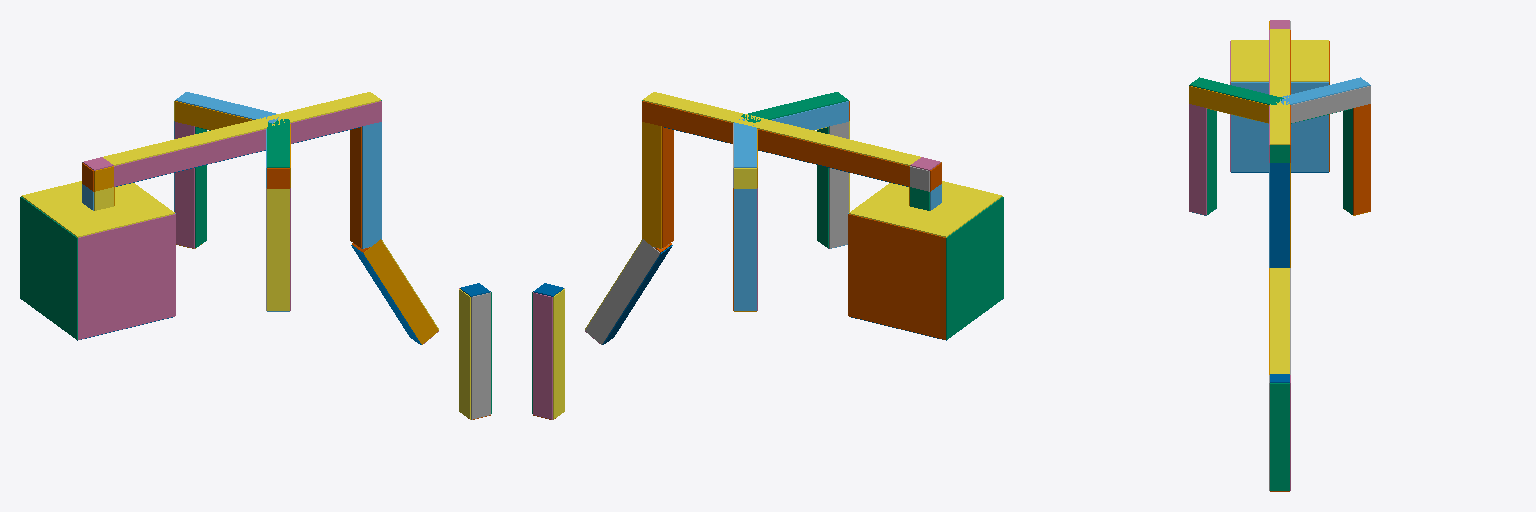
--- Render facts (derived) ---
Views: 3 orthographic renders of the robot side by side, from view 1: azimuth 30°, elevation 25°; view 2: azimuth 150°, elevation 25°; view 3: azimuth 270°, elevation 25°.
Model robot with 94 links and 93 joints (2 continuous, 91 fixed), rooted at body, posed every joint at zero.
Visible links, largest first — view 1: body_sensor_0_right, body_sensor_0_stop, arm_sensor_0_right, body_sensor_0_top, arm_sensor_0_top, hand_1_a_sensor_0_right, hand_3_c_sensor_0_right, hand_3_a_sensor_0_right, hand_3_b_sensor_0_right, hand_2_a_sensor_0_stop, hand_3_c_sensor_0_stop, hand_3_a_sensor_0_stop (+5 smaller); view 2: body_sensor_0_left, body_sensor_0_stop, arm_sensor_0_left, body_sensor_0_top, arm_sensor_0_top, hand_2_a_sensor_0_left, hand_3_c_sensor_0_left, hand_3_a_sensor_0_left, hand_3_b_sensor_0_left, hand_1_a_sensor_0_stop, hand_3_c_sensor_0_stop, hand_3_a_sensor_0_stop (+5 smaller); view 3: body_sensor_0_start, body_sensor_0_top, arm_sensor_0_top, hand_3_c_sensor_0_start, hand_3_b_sensor_0_start, hand_3_a_sensor_0_start, hand_1_a_sensor_0_start, hand_2_a_sensor_0_start, palm_1_sensor_0_start, palm_2_sensor_0_start, hand_1_a_sensor_0_left, hand_2_a_sensor_0_right (+2 smaller).
Link boxes in pixels (x1,y1,x2,y2): body_sensor_0_right: (78,214,175,339); body_sensor_0_stop: (20,197,77,339); arm_sensor_0_right: (114,101,381,186); body_sensor_0_top: (21,181,174,237); arm_sensor_0_top: (103,92,380,165); hand_1_a_sensor_0_right: (267,189,289,310); hand_3_c_sensor_0_right: (471,292,490,419); hand_3_a_sensor_0_right: (362,122,381,248); hand_3_b_sensor_0_right: (364,239,438,344); hand_2_a_sensor_0_stop: (175,122,194,248); hand_3_c_sensor_0_stop: (459,289,470,419); hand_3_a_sensor_0_stop: (350,127,361,247); body_sensor_0_left: (848,214,945,339); body_sensor_0_stop: (946,197,1003,339); arm_sensor_0_left: (642,101,909,186); body_sensor_0_top: (849,181,1002,237); arm_sensor_0_top: (643,92,920,165); hand_2_a_sensor_0_left: (734,189,756,310); hand_3_c_sensor_0_left: (533,292,552,419); hand_3_a_sensor_0_left: (642,122,661,248); hand_3_b_sensor_0_left: (585,239,659,344); hand_1_a_sensor_0_stop: (829,122,848,248); hand_3_c_sensor_0_stop: (553,289,564,419); hand_3_a_sensor_0_stop: (662,127,673,247); body_sensor_0_start: (1231,82,1328,171); body_sensor_0_top: (1231,40,1328,81); arm_sensor_0_top: (1270,29,1289,144); hand_3_c_sensor_0_start: (1270,383,1289,490); hand_3_b_sensor_0_start: (1270,268,1289,373); hand_3_a_sensor_0_start: (1270,163,1289,267); hand_1_a_sensor_0_start: (1189,104,1206,214); hand_2_a_sensor_0_start: (1353,104,1370,214); palm_1_sensor_0_start: (1189,86,1269,122); palm_2_sensor_0_start: (1291,86,1370,122); hand_1_a_sensor_0_left: (1207,109,1216,214); hand_2_a_sensor_0_right: (1343,109,1352,214).
Bounding box of the posed robot: 4.49 × 1.85 × 3.36 m (x, y, z).
Geometry: primitives only (box / cylinder / sphere), no mesh files.

URDF robot description (robot):
<?xml version="1.0"?>
    <robot name="robot">


    <!-- body -->
    <link name="body">
        <inertial>
            <origin xyz="0 0 0" rpy="0 0 0"/>
            <mass value="100"/>
            <inertia ixx=".1" ixy=".1" ixz=".1" iyy=".1" iyz=".1" izz=".1"/>
        </inertial>
        <visual>
            <origin xyz="0 0 0" rpy="0 0 0"/>
            <geometry>
                <box size="1 1 1"/>
            </geometry>
        </visual>
        <collision>
            <origin xyz="0 0 0" rpy="0 0 0"/>
            <geometry>
                <box size="1 1 1"/>
            </geometry>
        </collision>
    </link>


    <!-- body_sensor_0_start -->
    <link name="body_sensor_0_start">
        <inertial>
            <origin xyz="0 0 0" rpy="0 0 0"/>
            <mass value="0"/>
            <inertia ixx=".1" ixy=".1" ixz=".1" iyy=".1" iyz=".1" izz=".1"/>
        </inertial>
        <visual>
            <origin xyz="0 0 0" rpy="0 0 0"/>
            <geometry>
                <box size="0.02 1 1"/>
            </geometry>
        </visual>
        <collision>
            <origin xyz="0 0 0" rpy="0 0 0"/>
            <geometry>
                <box size="0.02 1 1"/>
            </geometry>
        </collision>
    </link>
    <!-- Joint: body, body_sensor_0_start -->
    <joint name="body_body_sensor_0_start_joint" type="fixed">
        <parent link="body"/>
        <child link="body_sensor_0_start"/>
        <origin xyz="0.5 0 0"
                rpy="0 0 0"/>
        <axis xyz="0 0 1"/>
        
    </joint>


    <!-- body_sensor_0_stop -->
    <link name="body_sensor_0_stop">
        <inertial>
            <origin xyz="0 0 0" rpy="0 0 0"/>
            <mass value="0"/>
            <inertia ixx=".1" ixy=".1" ixz=".1" iyy=".1" iyz=".1" izz=".1"/>
        </inertial>
        <visual>
            <origin xyz="0 0 0" rpy="0 0 0"/>
            <geometry>
                <box size="0.02 1 1"/>
            </geometry>
        </visual>
        <collision>
            <origin xyz="0 0 0" rpy="0 0 0"/>
            <geometry>
                <box size="0.02 1 1"/>
            </geometry>
        </collision>
    </link>
    <!-- Joint: body, body_sensor_0_stop -->
    <joint name="body_body_sensor_0_stop_joint" type="fixed">
        <parent link="body"/>
        <child link="body_sensor_0_stop"/>
        <origin xyz="-0.5 0 0"
                rpy="0 0 0"/>
        <axis xyz="0 0 1"/>
        
    </joint>


    <!-- body_sensor_0_top -->
    <link name="body_sensor_0_top">
        <inertial>
            <origin xyz="0 0 0" rpy="0 0 0"/>
            <mass value="0"/>
            <inertia ixx=".1" ixy=".1" ixz=".1" iyy=".1" iyz=".1" izz=".1"/>
        </inertial>
        <visual>
            <origin xyz="0 0 0" rpy="0 0 0"/>
            <geometry>
                <box size="1.0 1 0.02"/>
            </geometry>
        </visual>
        <collision>
            <origin xyz="0 0 0" rpy="0 0 0"/>
            <geometry>
                <box size="1.0 1 0.02"/>
            </geometry>
        </collision>
    </link>
    <!-- Joint: body, body_sensor_0_top -->
    <joint name="body_body_sensor_0_top_joint" type="fixed">
        <parent link="body"/>
        <child link="body_sensor_0_top"/>
        <origin xyz="0 0 0.5"
                rpy="0 0 0"/>
        <axis xyz="0 0 1"/>
        
    </joint>


    <!-- body_sensor_0_bottom -->
    <link name="body_sensor_0_bottom">
        <inertial>
            <origin xyz="0 0 0" rpy="0 0 0"/>
            <mass value="0"/>
            <inertia ixx=".1" ixy=".1" ixz=".1" iyy=".1" iyz=".1" izz=".1"/>
        </inertial>
        <visual>
            <origin xyz="0 0 0" rpy="0 0 0"/>
            <geometry>
                <box size="1.0 1 0.02"/>
            </geometry>
        </visual>
        <collision>
            <origin xyz="0 0 0" rpy="0 0 0"/>
            <geometry>
                <box size="1.0 1 0.02"/>
            </geometry>
        </collision>
    </link>
    <!-- Joint: body, body_sensor_0_bottom -->
    <joint name="body_body_sensor_0_bottom_joint" type="fixed">
        <parent link="body"/>
        <child link="body_sensor_0_bottom"/>
        <origin xyz="0 0 -0.5"
                rpy="0 0 0"/>
        <axis xyz="0 0 1"/>
        
    </joint>


    <!-- body_sensor_0_left -->
    <link name="body_sensor_0_left">
        <inertial>
            <origin xyz="0 0 0" rpy="0 0 0"/>
            <mass value="0"/>
            <inertia ixx=".1" ixy=".1" ixz=".1" iyy=".1" iyz=".1" izz=".1"/>
        </inertial>
        <visual>
            <origin xyz="0 0 0" rpy="0 0 0"/>
            <geometry>
                <box size="1.0 0.02 1"/>
            </geometry>
        </visual>
        <collision>
            <origin xyz="0 0 0" rpy="0 0 0"/>
            <geometry>
                <box size="1.0 0.02 1"/>
            </geometry>
        </collision>
    </link>
    <!-- Joint: body, body_sensor_0_left -->
    <joint name="body_body_sensor_0_left_joint" type="fixed">
        <parent link="body"/>
        <child link="body_sensor_0_left"/>
        <origin xyz="0 0.5 0"
                rpy="0 0 0"/>
        <axis xyz="0 0 1"/>
        
    </joint>


    <!-- body_sensor_0_right -->
    <link name="body_sensor_0_right">
        <inertial>
            <origin xyz="0 0 0" rpy="0 0 0"/>
            <mass value="0"/>
            <inertia ixx=".1" ixy=".1" ixz=".1" iyy=".1" iyz=".1" izz=".1"/>
        </inertial>
        <visual>
            <origin xyz="0 0 0" rpy="0 0 0"/>
            <geometry>
                <box size="1.0 0.02 1"/>
            </geometry>
        </visual>
        <collision>
            <origin xyz="0 0 0" rpy="0 0 0"/>
            <geometry>
                <box size="1.0 0.02 1"/>
            </geometry>
        </collision>
    </link>
    <!-- Joint: body, body_sensor_0_right -->
    <joint name="body_body_sensor_0_right_joint" type="fixed">
        <parent link="body"/>
        <child link="body_sensor_0_right"/>
        <origin xyz="0 -0.5 0"
                rpy="0 0 0"/>
        <axis xyz="0 0 1"/>
        
    </joint>


    <!-- joint_1 -->
    <link name="joint_1">
        <inertial>
            <origin xyz="0 0 0" rpy="0 0 0"/>
            <mass value="2"/>
            <inertia ixx=".1" ixy=".1" ixz=".1" iyy=".1" iyz=".1" izz=".1"/>
        </inertial>
        <visual>
            <origin xyz="0 0 0" rpy="0 0 0"/>
            <geometry>
                <box size="0.2 0.2 0.2"/>
            </geometry>
        </visual>
        <collision>
            <origin xyz="0 0 0" rpy="0 0 0"/>
            <geometry>
                <box size="0.2 0.2 0.2"/>
            </geometry>
        </collision>
    </link>


    <!-- joint_1_sensor_0_start -->
    <link name="joint_1_sensor_0_start">
        <inertial>
            <origin xyz="0 0 0" rpy="0 0 0"/>
            <mass value="0"/>
            <inertia ixx=".1" ixy=".1" ixz=".1" iyy=".1" iyz=".1" izz=".1"/>
        </inertial>
        <visual>
            <origin xyz="0 0 0" rpy="0 0 0"/>
            <geometry>
                <box size="0.02 0.2 0.2"/>
            </geometry>
        </visual>
        <collision>
            <origin xyz="0 0 0" rpy="0 0 0"/>
            <geometry>
                <box size="0.02 0.2 0.2"/>
            </geometry>
        </collision>
    </link>
    <!-- Joint: joint_1, joint_1_sensor_0_start -->
    <joint name="joint_1_joint_1_sensor_0_start_joint" type="fixed">
        <parent link="joint_1"/>
        <child link="joint_1_sensor_0_start"/>
        <origin xyz="0.1 0 0"
                rpy="0 0 0"/>
        <axis xyz="0 0 1"/>
        
    </joint>


    <!-- joint_1_sensor_0_stop -->
    <link name="joint_1_sensor_0_stop">
        <inertial>
            <origin xyz="0 0 0" rpy="0 0 0"/>
            <mass value="0"/>
            <inertia ixx=".1" ixy=".1" ixz=".1" iyy=".1" iyz=".1" izz=".1"/>
        </inertial>
        <visual>
            <origin xyz="0 0 0" rpy="0 0 0"/>
            <geometry>
                <box size="0.02 0.2 0.2"/>
            </geometry>
        </visual>
        <collision>
            <origin xyz="0 0 0" rpy="0 0 0"/>
            <geometry>
                <box size="0.02 0.2 0.2"/>
            </geometry>
        </collision>
    </link>
    <!-- Joint: joint_1, joint_1_sensor_0_stop -->
    <joint name="joint_1_joint_1_sensor_0_stop_joint" type="fixed">
        <parent link="joint_1"/>
        <child link="joint_1_sensor_0_stop"/>
        <origin xyz="-0.1 0 0"
                rpy="0 0 0"/>
        <axis xyz="0 0 1"/>
        
    </joint>


    <!-- joint_1_sensor_0_left -->
    <link name="joint_1_sensor_0_left">
        <inertial>
            <origin xyz="0 0 0" rpy="0 0 0"/>
            <mass value="0"/>
            <inertia ixx=".1" ixy=".1" ixz=".1" iyy=".1" iyz=".1" izz=".1"/>
        </inertial>
        <visual>
            <origin xyz="0 0 0" rpy="0 0 0"/>
            <geometry>
                <box size="0.2 0.02 0.2"/>
            </geometry>
        </visual>
        <collision>
            <origin xyz="0 0 0" rpy="0 0 0"/>
            <geometry>
                <box size="0.2 0.02 0.2"/>
            </geometry>
        </collision>
    </link>
    <!-- Joint: joint_1, joint_1_sensor_0_left -->
    <joint name="joint_1_joint_1_sensor_0_left_joint" type="fixed">
        <parent link="joint_1"/>
        <child link="joint_1_sensor_0_left"/>
        <origin xyz="0 0.1 0"
                rpy="0 0 0"/>
        <axis xyz="0 0 1"/>
        
    </joint>


    <!-- joint_1_sensor_0_right -->
    <link name="joint_1_sensor_0_right">
        <inertial>
            <origin xyz="0 0 0" rpy="0 0 0"/>
            <mass value="0"/>
            <inertia ixx=".1" ixy=".1" ixz=".1" iyy=".1" iyz=".1" izz=".1"/>
        </inertial>
        <visual>
            <origin xyz="0 0 0" rpy="0 0 0"/>
            <geometry>
                <box size="0.2 0.02 0.2"/>
            </geometry>
        </visual>
        <collision>
            <origin xyz="0 0 0" rpy="0 0 0"/>
            <geometry>
                <box size="0.2 0.02 0.2"/>
            </geometry>
        </collision>
    </link>
    <!-- Joint: joint_1, joint_1_sensor_0_right -->
    <joint name="joint_1_joint_1_sensor_0_right_joint" type="fixed">
        <parent link="joint_1"/>
        <child link="joint_1_sensor_0_right"/>
        <origin xyz="0 -0.1 0"
                rpy="0 0 0"/>
        <axis xyz="0 0 1"/>
        
    </joint>
    <!-- Joint: body, joint_1 -->
    <joint name="body_joint_1_joint" type="continuous">
        <parent link="body"/>
        <child link="joint_1"/>
        <origin xyz="0 0 0.6"
                rpy="0 0 0"/>
        <axis xyz="0 0 1"/>
        <limit lower="0" upper="0" effort="0" velocity="0"/>
    </joint>


    <!-- joint_2 -->
    <link name="joint_2">
        <inertial>
            <origin xyz="0 0 0" rpy="0 0 0"/>
            <mass value="2"/>
            <inertia ixx=".1" ixy=".1" ixz=".1" iyy=".1" iyz=".1" izz=".1"/>
        </inertial>
        <visual>
            <origin xyz="0 0 0" rpy="0 0 0"/>
            <geometry>
                <box size="0.2 0.2 0.2"/>
            </geometry>
        </visual>
        <collision>
            <origin xyz="0 0 0" rpy="0 0 0"/>
            <geometry>
                <box size="0.2 0.2 0.2"/>
            </geometry>
        </collision>
    </link>


    <!-- joint_2_sensor_0_stop -->
    <link name="joint_2_sensor_0_stop">
        <inertial>
            <origin xyz="0 0 0" rpy="0 0 0"/>
            <mass value="0"/>
            <inertia ixx=".1" ixy=".1" ixz=".1" iyy=".1" iyz=".1" izz=".1"/>
        </inertial>
        <visual>
            <origin xyz="0 0 0" rpy="0 0 0"/>
            <geometry>
                <box size="0.02 0.2 0.2"/>
            </geometry>
        </visual>
        <collision>
            <origin xyz="0 0 0" rpy="0 0 0"/>
            <geometry>
                <box size="0.02 0.2 0.2"/>
            </geometry>
        </collision>
    </link>
    <!-- Joint: joint_2, joint_2_sensor_0_stop -->
    <joint name="joint_2_joint_2_sensor_0_stop_joint" type="fixed">
        <parent link="joint_2"/>
        <child link="joint_2_sensor_0_stop"/>
        <origin xyz="-0.1 0 0"
                rpy="0 0 0"/>
        <axis xyz="0 1 0"/>
        
    </joint>


    <!-- joint_2_sensor_0_top -->
    <link name="joint_2_sensor_0_top">
        <inertial>
            <origin xyz="0 0 0" rpy="0 0 0"/>
            <mass value="0"/>
            <inertia ixx=".1" ixy=".1" ixz=".1" iyy=".1" iyz=".1" izz=".1"/>
        </inertial>
        <visual>
            <origin xyz="0 0 0" rpy="0 0 0"/>
            <geometry>
                <box size="0.2 0.2 0.02"/>
            </geometry>
        </visual>
        <collision>
            <origin xyz="0 0 0" rpy="0 0 0"/>
            <geometry>
                <box size="0.2 0.2 0.02"/>
            </geometry>
        </collision>
    </link>
    <!-- Joint: joint_2, joint_2_sensor_0_top -->
    <joint name="joint_2_joint_2_sensor_0_top_joint" type="fixed">
        <parent link="joint_2"/>
        <child link="joint_2_sensor_0_top"/>
        <origin xyz="0 0 0.1"
                rpy="0 0 0"/>
        <axis xyz="0 1 0"/>
        
    </joint>


    <!-- joint_2_sensor_0_left -->
    <link name="joint_2_sensor_0_left">
        <inertial>
            <origin xyz="0 0 0" rpy="0 0 0"/>
            <mass value="0"/>
            <inertia ixx=".1" ixy=".1" ixz=".1" iyy=".1" iyz=".1" izz=".1"/>
        </inertial>
        <visual>
            <origin xyz="0 0 0" rpy="0 0 0"/>
            <geometry>
                <box size="0.2 0.02 0.2"/>
            </geometry>
        </visual>
        <collision>
            <origin xyz="0 0 0" rpy="0 0 0"/>
            <geometry>
                <box size="0.2 0.02 0.2"/>
            </geometry>
        </collision>
    </link>
    <!-- Joint: joint_2, joint_2_sensor_0_left -->
    <joint name="joint_2_joint_2_sensor_0_left_joint" type="fixed">
        <parent link="joint_2"/>
        <child link="joint_2_sensor_0_left"/>
        <origin xyz="0 0.1 0"
                rpy="0 0 0"/>
        <axis xyz="0 1 0"/>
        
    </joint>


    <!-- joint_2_sensor_0_right -->
    <link name="joint_2_sensor_0_right">
        <inertial>
            <origin xyz="0 0 0" rpy="0 0 0"/>
            <mass value="0"/>
            <inertia ixx=".1" ixy=".1" ixz=".1" iyy=".1" iyz=".1" izz=".1"/>
        </inertial>
        <visual>
            <origin xyz="0 0 0" rpy="0 0 0"/>
            <geometry>
                <box size="0.2 0.02 0.2"/>
            </geometry>
        </visual>
        <collision>
            <origin xyz="0 0 0" rpy="0 0 0"/>
            <geometry>
                <box size="0.2 0.02 0.2"/>
            </geometry>
        </collision>
    </link>
    <!-- Joint: joint_2, joint_2_sensor_0_right -->
    <joint name="joint_2_joint_2_sensor_0_right_joint" type="fixed">
        <parent link="joint_2"/>
        <child link="joint_2_sensor_0_right"/>
        <origin xyz="0 -0.1 0"
                rpy="0 0 0"/>
        <axis xyz="0 1 0"/>
        
    </joint>
    <!-- Joint: joint_1, joint_2 -->
    <joint name="joint_1_joint_2_joint" type="continuous">
        <parent link="joint_1"/>
        <child link="joint_2"/>
        <origin xyz="0 0 0.2"
                rpy="0 0 0"/>
        <axis xyz="0 1 0"/>
        <limit lower="0" upper="0" effort="0" velocity="0"/>
    </joint>


    <!-- arm -->
    <link name="arm">
        <inertial>
            <origin xyz="0 0 0" rpy="0 0 0"/>
            <mass value="2"/>
            <inertia ixx=".1" ixy=".1" ixz=".1" iyy=".1" iyz=".1" izz=".1"/>
        </inertial>
        <visual>
            <origin xyz="0 0 0" rpy="0 0 0"/>
            <geometry>
                <box size="2.75 0.2 0.2"/>
            </geometry>
        </visual>
        <collision>
            <origin xyz="0 0 0" rpy="0 0 0"/>
            <geometry>
                <box size="2.75 0.2 0.2"/>
            </geometry>
        </collision>
    </link>


    <!-- arm_sensor_0_start -->
    <link name="arm_sensor_0_start">
        <inertial>
            <origin xyz="0 0 0" rpy="0 0 0"/>
            <mass value="0"/>
            <inertia ixx=".1" ixy=".1" ixz=".1" iyy=".1" iyz=".1" izz=".1"/>
        </inertial>
        <visual>
            <origin xyz="0 0 0" rpy="0 0 0"/>
            <geometry>
                <box size="0.02 0.2 0.2"/>
            </geometry>
        </visual>
        <collision>
            <origin xyz="0 0 0" rpy="0 0 0"/>
            <geometry>
                <box size="0.02 0.2 0.2"/>
            </geometry>
        </collision>
    </link>
    <!-- Joint: arm, arm_sensor_0_start -->
    <joint name="arm_arm_sensor_0_start_joint" type="fixed">
        <parent link="arm"/>
        <child link="arm_sensor_0_start"/>
        <origin xyz="1.375 0 0"
                rpy="0 0 0"/>
        <axis xyz="0 1 0"/>
        
    </joint>


    <!-- arm_sensor_0_top -->
    <link name="arm_sensor_0_top">
        <inertial>
            <origin xyz="0 0 0" rpy="0 0 0"/>
            <mass value="0"/>
            <inertia ixx=".1" ixy=".1" ixz=".1" iyy=".1" iyz=".1" izz=".1"/>
        </inertial>
        <visual>
            <origin xyz="0 0 0" rpy="0 0 0"/>
            <geometry>
                <box size="2.75 0.2 0.02"/>
            </geometry>
        </visual>
        <collision>
            <origin xyz="0 0 0" rpy="0 0 0"/>
            <geometry>
                <box size="2.75 0.2 0.02"/>
            </geometry>
        </collision>
    </link>
    <!-- Joint: arm, arm_sensor_0_top -->
    <joint name="arm_arm_sensor_0_top_joint" type="fixed">
        <parent link="arm"/>
        <child link="arm_sensor_0_top"/>
        <origin xyz="0 0 0.1"
                rpy="0 0 0"/>
        <axis xyz="0 1 0"/>
        
    </joint>


    <!-- arm_sensor_0_bottom -->
    <link name="arm_sensor_0_bottom">
        <inertial>
            <origin xyz="0 0 0" rpy="0 0 0"/>
            <mass value="0"/>
            <inertia ixx=".1" ixy=".1" ixz=".1" iyy=".1" iyz=".1" izz=".1"/>
        </inertial>
        <visual>
            <origin xyz="0 0 0" rpy="0 0 0"/>
            <geometry>
                <box size="2.75 0.2 0.02"/>
            </geometry>
        </visual>
        <collision>
            <origin xyz="0 0 0" rpy="0 0 0"/>
            <geometry>
                <box size="2.75 0.2 0.02"/>
            </geometry>
        </collision>
    </link>
    <!-- Joint: arm, arm_sensor_0_bottom -->
    <joint name="arm_arm_sensor_0_bottom_joint" type="fixed">
        <parent link="arm"/>
        <child link="arm_sensor_0_bottom"/>
        <origin xyz="0 0 -0.1"
                rpy="0 0 0"/>
        <axis xyz="0 1 0"/>
        
    </joint>


    <!-- arm_sensor_0_left -->
    <link name="arm_sensor_0_left">
        <inertial>
            <origin xyz="0 0 0" rpy="0 0 0"/>
            <mass value="0"/>
            <inertia ixx=".1" ixy=".1" ixz=".1" iyy=".1" iyz=".1" izz=".1"/>
        </inertial>
        <visual>
            <origin xyz="0 0 0" rpy="0 0 0"/>
            <geometry>
                <box size="2.75 0.02 0.2"/>
            </geometry>
        </visual>
        <collision>
            <origin xyz="0 0 0" rpy="0 0 0"/>
            <geometry>
                <box size="2.75 0.02 0.2"/>
            </geometry>
        </collision>
    </link>
    <!-- Joint: arm, arm_sensor_0_left -->
    <joint name="arm_arm_sensor_0_left_joint" type="fixed">
        <parent link="arm"/>
        <child link="arm_sensor_0_left"/>
        <origin xyz="0 0.1 0"
                rpy="0 0 0"/>
        <axis xyz="0 1 0"/>
        
    </joint>


    <!-- arm_sensor_0_right -->
    <link name="arm_sensor_0_right">
        <inertial>
            <origin xyz="0 0 0" rpy="0 0 0"/>
            <mass value="0"/>
            <inertia ixx=".1" ixy=".1" ixz=".1" iyy=".1" iyz=".1" izz=".1"/>
        </inertial>
        <visual>
            <origin xyz="0 0 0" rpy="0 0 0"/>
            <geometry>
                <box size="2.75 0.02 0.2"/>
            </geometry>
        </visual>
        <collision>
            <origin xyz="0 0 0" rpy="0 0 0"/>
            <geometry>
                <box size="2.75 0.02 0.2"/>
            </geometry>
        </collision>
    </link>
    <!-- Joint: arm, arm_sensor_0_right -->
    <joint name="arm_arm_sensor_0_right_joint" type="fixed">
        <parent link="arm"/>
        <child link="arm_sensor_0_right"/>
        <origin xyz="0 -0.1 0"
                rpy="0 0 0"/>
        <axis xyz="0 1 0"/>
        
    </joint>
    <!-- Joint: joint_2, arm -->
    <joint name="joint_2_arm_joint" type="fixed">
        <parent link="joint_2"/>
        <child link="arm"/>
        <origin xyz="1.475 0 0"
                rpy="0 0 0"/>
        <axis xyz="0 1 0"/>
        
    </joint>


    <!-- palm_1 -->
    <link name="palm_1">
        <inertial>
            <origin xyz="0 0 0" rpy="0 0 0"/>
            <mass value="2"/>
            <inertia ixx=".1" ixy=".1" ixz=".1" iyy=".1" iyz=".1" izz=".1"/>
        </inertial>
        <visual>
            <origin xyz="0 0 0" rpy="0 0 0"/>
            <geometry>
                <box size="0.2 1 0.2"/>
            </geometry>
        </visual>
        <collision>
            <origin xyz="0 0 0" rpy="0 0 0"/>
            <geometry>
                <box size="0.2 1 0.2"/>
            </geometry>
        </collision>
    </link>


    <!-- palm_1_sensor_0_start -->
    <link name="palm_1_sensor_0_start">
        <inertial>
            <origin xyz="0 0 0" rpy="0 0 0"/>
            <mass value="0"/>
            <inertia ixx=".1" ixy=".1" ixz=".1" iyy=".1" iyz=".1" izz=".1"/>
        </inertial>
        <visual>
            <origin xyz="0 0 0" rpy="0 0 0"/>
            <geometry>
                <box size="0.02 1 0.2"/>
            </geometry>
        </visual>
        <collision>
            <origin xyz="0 0 0" rpy="0 0 0"/>
            <geometry>
                <box size="0.02 1 0.2"/>
            </geometry>
        </collision>
    </link>
    <!-- Joint: palm_1, palm_1_sensor_0_start -->
    <joint name="palm_1_palm_1_sensor_0_start_joint" type="fixed">
        <parent link="palm_1"/>
        <child link="palm_1_sensor_0_start"/>
        <origin xyz="0.1 0 0"
                rpy="0 0 0"/>
        <axis xyz="0 1 0"/>
        
    </joint>


    <!-- palm_1_sensor_0_stop -->
    <link name="palm_1_sensor_0_stop">
        <inertial>
            <origin xyz="0 0 0" rpy="0 0 0"/>
            <mass value="0"/>
            <inertia ixx=".1" ixy=".1" ixz=".1" iyy=".1" iyz=".1" izz=".1"/>
        </inertial>
        <visual>
            <origin xyz="0 0 0" rpy="0 0 0"/>
            <geometry>
                <box size="0.02 1 0.2"/>
            </geometry>
        </visual>
        <collision>
            <origin xyz="0 0 0" rpy="0 0 0"/>
            <geometry>
                <box size="0.02 1 0.2"/>
            </geometry>
        </collision>
    </link>
    <!-- Joint: palm_1, palm_1_sensor_0_stop -->
    <joint name="palm_1_palm_1_sensor_0_stop_joint" type="fixed">
        <parent link="palm_1"/>
        <child link="palm_1_sensor_0_stop"/>
        <origin xyz="-0.1 0 0"
                rpy="0 0 0"/>
        <axis xyz="0 1 0"/>
        
    </joint>


    <!-- palm_1_sensor_0_top -->
    <link name="palm_1_sensor_0_top">
        <inertial>
            <origin xyz="0 0 0" rpy="0 0 0"/>
            <mass value="0"/>
            <inertia ixx=".1" ixy=".1" ixz=".1" iyy=".1" iyz=".1" izz=".1"/>
        </inertial>
        <visual>
            <origin xyz="0 0 0" rpy="0 0 0"/>
            <geometry>
                <box size="0.2 1 0.02"/>
            </geometry>
        </visual>
        <collision>
            <origin xyz="0 0 0" rpy="0 0 0"/>
            <geometry>
                <box size="0.2 1 0.02"/>
            </geometry>
        </collision>
    </link>
    <!-- Joint: palm_1, palm_1_sensor_0_top -->
    <joint name="palm_1_palm_1_sensor_0_top_joint" type="fixed">
        <parent link="palm_1"/>
        <child link="palm_1_sensor_0_top"/>
        <origin xyz="0 0 0.1"
                rpy="0 0 0"/>
        <axis xyz="0 1 0"/>
        
    </joint>


    <!-- palm_1_sensor_0_bottom -->
    <link name="palm_1_sensor_0_bottom">
        <inertial>
            <origin xyz="0 0 0" rpy="0 0 0"/>
            <mass value="0"/>
            <inertia ixx=".1" ixy=".1" ixz=".1" iyy=".1" iyz=".1" izz=".1"/>
        </inertial>
        <visual>
            <origin xyz="0 0 0" rpy="0 0 0"/>
            <geometry>
                <box size="0.2 1 0.02"/>
            </geometry>
        </visual>
        <collision>
            <origin xyz="0 0 0" rpy="0 0 0"/>
            <geometry>
                <box size="0.2 1 0.02"/>
            </geometry>
        </collision>
    </link>
    <!-- Joint: palm_1, palm_1_sensor_0_bottom -->
    <joint name="palm_1_palm_1_sensor_0_bottom_joint" type="fixed">
        <parent link="palm_1"/>
        <child link="palm_1_sensor_0_bottom"/>
        <origin xyz="0 0 -0.1"
                rpy="0 0 0"/>
        <axis xyz="0 1 0"/>
        
    </joint>


    <!-- palm_1_sensor_0_left -->
    <link name="palm_1_sensor_0_left">
        <inertial>
            <origin xyz="0 0 0" rpy="0 0 0"/>
            <mass value="0"/>
            <inertia ixx=".1" ixy=".1" ixz=".1" iyy=".1" iyz=".1" izz=".1"/>
        </inertial>
        <visual>
            <origin xyz="0 0 0" rpy="0 0 0"/>
            <geometry>
                <box size="0.2 0.02 0.2"/>
            </geometry>
        </visual>
        <collision>
            <origin xyz="0 0 0" rpy="0 0 0"/>
            <geometry>
                <box size="0.2 0.02 0.2"/>
            </geometry>
        </collision>
    </link>
    <!-- Joint: palm_1, palm_1_sensor_0_left -->
    <joint name="palm_1_palm_1_sensor_0_left_joint" type="fixed">
        <parent link="palm_1"/>
        <child link="palm_1_sensor_0_left"/>
        <origin xyz="0 0.5 0"
                rpy="0 0 0"/>
        <axis xyz="0 1 0"/>
        
    </joint>


    <!-- palm_1_sensor_0_right -->
    <link name="palm_1_sensor_0_right">
        <inertial>
            <origin xyz="0 0 0" rpy="0 0 0"/>
            <mass value="0"/>
            <inertia ixx=".1" ixy=".1" ixz=".1" iyy=".1" iyz=".1" izz=".1"/>
        </inertial>
        <visual>
            <origin xyz="0 0 0" rpy="0 0 0"/>
            <geometry>
                <box size="0.2 0.02 0.2"/>
            </geometry>
        </visual>
        <collision>
            <origin xyz="0 0 0" rpy="0 0 0"/>
            <geometry>
                <box size="0.2 0.02 0.2"/>
            </geometry>
        </collision>
    </link>
    <!-- Joint: palm_1, palm_1_sensor_0_right -->
    <joint name="palm_1_palm_1_sensor_0_right_joint" type="fixed">
        <parent link="palm_1"/>
        <child link="palm_1_sensor_0_right"/>
        <origin xyz="0 -0.5 0"
                rpy="0 0 0"/>
        <axis xyz="0 1 0"/>
        
    </joint>
    <!-- Joint: arm, palm_1 -->
    <joint name="arm_palm_1_joint" type="fixed">
        <parent link="arm"/>
        <child link="palm_1"/>
        <origin xyz="0.125 -0.4330127018922193 0"
                rpy="0 0 -0.5235987755982988"/>
        <axis xyz="0 1 0"/>
        
    </joint>


    <!-- palm_2 -->
    <link name="palm_2">
        <inertial>
            <origin xyz="0 0 0" rpy="0 0 0"/>
            <mass value="2"/>
            <inertia ixx=".1" ixy=".1" ixz=".1" iyy=".1" iyz=".1" izz=".1"/>
        </inertial>
        <visual>
            <origin xyz="0 0 0" rpy="0 0 0"/>
            <geometry>
                <box size="0.2 1 0.2"/>
            </geometry>
        </visual>
        <collision>
            <origin xyz="0 0 0" rpy="0 0 0"/>
            <geometry>
                <box size="0.2 1 0.2"/>
            </geometry>
        </collision>
    </link>


    <!-- palm_2_sensor_0_start -->
    <link name="palm_2_sensor_0_start">
        <inertial>
            <origin xyz="0 0 0" rpy="0 0 0"/>
            <mass value="0"/>
            <inertia ixx=".1" ixy=".1" ixz=".1" iyy=".1" iyz=".1" izz=".1"/>
        </inertial>
        <visual>
            <origin xyz="0 0 0" rpy="0 0 0"/>
            <geometry>
                <box size="0.02 1 0.2"/>
            </geometry>
        </visual>
        <collision>
            <origin xyz="0 0 0" rpy="0 0 0"/>
            <geometry>
                <box size="0.02 1 0.2"/>
            </geometry>
        </collision>
    </link>
    <!-- Joint: palm_2, palm_2_sensor_0_start -->
    <joint name="palm_2_palm_2_sensor_0_start_joint" type="fixed">
        <parent link="palm_2"/>
        <child link="palm_2_sensor_0_start"/>
        <origin xyz="0.1 0 0"
                rpy="0 0 0"/>
        <axis xyz="0 1 0"/>
        
    </joint>


    <!-- palm_2_sensor_0_stop -->
    <link name="palm_2_sensor_0_stop">
        <inertial>
            <origin xyz="0 0 0" rpy="0 0 0"/>
            <mass value="0"/>
            <inertia ixx=".1" ixy=".1" ixz=".1" iyy=".1" iyz=".1" izz=".1"/>
        </inertial>
        <visual>
            <origin xyz="0 0 0" rpy="0 0 0"/>
            <geometry>
                <box size="0.02 1 0.2"/>
            </geometry>
        </visual>
        <collision>
            <origin xyz="0 0 0" rpy="0 0 0"/>
            <geometry>
                <box size="0.02 1 0.2"/>
            </geometry>
        </collision>
    </link>
    <!-- Joint: palm_2, palm_2_sensor_0_stop -->
    <joint name="palm_2_palm_2_sensor_0_stop_joint" type="fixed">
        <parent link="palm_2"/>
        <child link="palm_2_sensor_0_stop"/>
        <origin xyz="-0.1 0 0"
                rpy="0 0 0"/>
        <axis xyz="0 1 0"/>
        
    </joint>


    <!-- palm_2_sensor_0_top -->
    <link name="palm_2_sensor_0_top">
        <inertial>
            <origin xyz="0 0 0" rpy="0 0 0"/>
            <mass value="0"/>
            <inertia ixx=".1" ixy=".1" ixz=".1" iyy=".1" iyz=".1" izz=".1"/>
        </inertial>
        <visual>
            <origin xyz="0 0 0" rpy="0 0 0"/>
            <geometry>
                <box size="0.2 1 0.02"/>
            </geometry>
        </visual>
        <collision>
            <origin xyz="0 0 0" rpy="0 0 0"/>
            <geometry>
                <box size="0.2 1 0.02"/>
            </geometry>
        </collision>
    </link>
    <!-- Joint: palm_2, palm_2_sensor_0_top -->
    <joint name="palm_2_palm_2_sensor_0_top_joint" type="fixed">
        <parent link="palm_2"/>
        <child link="palm_2_sensor_0_top"/>
        <origin xyz="0 0 0.1"
                rpy="0 0 0"/>
        <axis xyz="0 1 0"/>
        
    </joint>


    <!-- palm_2_sensor_0_bottom -->
    <link name="palm_2_sensor_0_bottom">
        <inertial>
            <origin xyz="0 0 0" rpy="0 0 0"/>
            <mass value="0"/>
            <inertia ixx=".1" ixy=".1" ixz=".1" iyy=".1" iyz=".1" izz=".1"/>
        </inertial>
        <visual>
            <origin xyz="0 0 0" rpy="0 0 0"/>
            <geometry>
                <box size="0.2 1 0.02"/>
            </geometry>
        </visual>
        <collision>
            <origin xyz="0 0 0" rpy="0 0 0"/>
            <geometry>
                <box size="0.2 1 0.02"/>
            </geometry>
        </collision>
    </link>
    <!-- Joint: palm_2, palm_2_sensor_0_bottom -->
    <joint name="palm_2_palm_2_sensor_0_bottom_joint" type="fixed">
        <parent link="palm_2"/>
        <child link="palm_2_sensor_0_bottom"/>
        <origin xyz="0 0 -0.1"
                rpy="0 0 0"/>
        <axis xyz="0 1 0"/>
        
    </joint>


    <!-- palm_2_sensor_0_left -->
    <link name="palm_2_sensor_0_left">
        <inertial>
            <origin xyz="0 0 0" rpy="0 0 0"/>
            <mass value="0"/>
            <inertia ixx=".1" ixy=".1" ixz=".1" iyy=".1" iyz=".1" izz=".1"/>
        </inertial>
        <visual>
            <origin xyz="0 0 0" rpy="0 0 0"/>
            <geometry>
                <box size="0.2 0.02 0.2"/>
            </geometry>
        </visual>
        <collision>
            <origin xyz="0 0 0" rpy="0 0 0"/>
            <geometry>
                <box size="0.2 0.02 0.2"/>
            </geometry>
        </collision>
    </link>
    <!-- Joint: palm_2, palm_2_sensor_0_left -->
    <joint name="palm_2_palm_2_sensor_0_left_joint" type="fixed">
        <parent link="palm_2"/>
        <child link="palm_2_sensor_0_left"/>
        <origin xyz="0 0.5 0"
                rpy="0 0 0"/>
        <axis xyz="0 1 0"/>
        
    </joint>


    <!-- palm_2_sensor_0_right -->
    <link name="palm_2_sensor_0_right">
        <inertial>
            <origin xyz="0 0 0" rpy="0 0 0"/>
            <mass value="0"/>
            <inertia ixx=".1" ixy=".1" ixz=".1" iyy=".1" iyz=".1" izz=".1"/>
        </inertial>
        <visual>
            <origin xyz="0 0 0" rpy="0 0 0"/>
            <geometry>
                <box size="0.2 0.02 0.2"/>
            </geometry>
        </visual>
        <collision>
            <origin xyz="0 0 0" rpy="0 0 0"/>
            <geometry>
                <box size="0.2 0.02 0.2"/>
            </geometry>
        </collision>
    </link>
    <!-- Joint: palm_2, palm_2_sensor_0_right -->
    <joint name="palm_2_palm_2_sensor_0_right_joint" type="fixed">
        <parent link="palm_2"/>
        <child link="palm_2_sensor_0_right"/>
        <origin xyz="0 -0.5 0"
                rpy="0 0 0"/>
        <axis xyz="0 1 0"/>
        
    </joint>
    <!-- Joint: arm, palm_2 -->
    <joint name="arm_palm_2_joint" type="fixed">
        <parent link="arm"/>
        <child link="palm_2"/>
        <origin xyz="0.125 0.4330127018922193 0"
                rpy="0 0 0.5235987755982988"/>
        <axis xyz="0 1 0"/>
        
    </joint>


    <!-- hand_1_a -->
    <link name="hand_1_a">
        <inertial>
            <origin xyz="0 0 0" rpy="0 0 0"/>
            <mass value="2"/>
            <inertia ixx=".1" ixy=".1" ixz=".1" iyy=".1" iyz=".1" izz=".1"/>
        </inertial>
        <visual>
            <origin xyz="0 0 0" rpy="0 0 0"/>
            <geometry>
                <box size="0.2 0.2 1.2"/>
            </geometry>
        </visual>
        <collision>
            <origin xyz="0 0 0" rpy="0 0 0"/>
            <geometry>
                <box size="0.2 0.2 1.2"/>
            </geometry>
        </collision>
    </link>


    <!-- hand_1_a_sensor_0_start -->
    <link name="hand_1_a_sensor_0_start">
        <inertial>
            <origin xyz="0 0 0" rpy="0 0 0"/>
            <mass value="0"/>
            <inertia ixx=".1" ixy=".1" ixz=".1" iyy=".1" iyz=".1" izz=".1"/>
        </inertial>
        <visual>
            <origin xyz="0 0 0" rpy="0 0 0"/>
            <geometry>
                <box size="0.02 0.2 1.2"/>
            </geometry>
        </visual>
        <collision>
            <origin xyz="0 0 0" rpy="0 0 0"/>
            <geometry>
                <box size="0.02 0.2 1.2"/>
            </geometry>
        </collision>
    </link>
    <!-- Joint: hand_1_a, hand_1_a_sensor_0_start -->
    <joint name="hand_1_a_hand_1_a_sensor_0_start_joint" type="fixed">
        <parent link="hand_1_a"/>
        <child link="hand_1_a_sensor_0_start"/>
        <origin xyz="0.1 0 0"
                rpy="0 0 0"/>
        <axis xyz="0 1 0"/>
        
    </joint>


    <!-- hand_1_a_sensor_0_stop -->
    <link name="hand_1_a_sensor_0_stop">
        <inertial>
            <origin xyz="0 0 0" rpy="0 0 0"/>
            <mass value="0"/>
            <inertia ixx=".1" ixy=".1" ixz=".1" iyy=".1" iyz=".1" izz=".1"/>
        </inertial>
        <visual>
            <origin xyz="0 0 0" rpy="0 0 0"/>
            <geometry>
                <box size="0.02 0.2 1.2"/>
            </geometry>
        </visual>
        <collision>
            <origin xyz="0 0 0" rpy="0 0 0"/>
            <geometry>
                <box size="0.02 0.2 1.2"/>
            </geometry>
        </collision>
    </link>
    <!-- Joint: hand_1_a, hand_1_a_sensor_0_stop -->
    <joint name="hand_1_a_hand_1_a_sensor_0_stop_joint" type="fixed">
        <parent link="hand_1_a"/>
        <child link="hand_1_a_sensor_0_stop"/>
        <origin xyz="-0.1 0 0"
                rpy="0 0 0"/>
        <axis xyz="0 1 0"/>
        
    </joint>


    <!-- hand_1_a_sensor_0_top -->
    <link name="hand_1_a_sensor_0_top">
        <inertial>
            <origin xyz="0 0 0" rpy="0 0 0"/>
            <mass value="0"/>
            <inertia ixx=".1" ixy=".1" ixz=".1" iyy=".1" iyz=".1" izz=".1"/>
        </inertial>
        <visual>
            <origin xyz="0 0 0" rpy="0 0 0"/>
            <geometry>
                <box size="0.2 0.2 0.02"/>
            </geometry>
        </visual>
        <collision>
            <origin xyz="0 0 0" rpy="0 0 0"/>
            <geometry>
                <box size="0.2 0.2 0.02"/>
            </geometry>
        </collision>
    </link>
    <!-- Joint: hand_1_a, hand_1_a_sensor_0_top -->
    <joint name="hand_1_a_hand_1_a_sensor_0_top_joint" type="fixed">
        <parent link="hand_1_a"/>
        <child link="hand_1_a_sensor_0_top"/>
        <origin xyz="0 0 0.6"
                rpy="0 0 0"/>
        <axis xyz="0 1 0"/>
        
    </joint>


    <!-- hand_1_a_sensor_0_bottom -->
    <link name="hand_1_a_sensor_0_bottom">
        <inertial>
            <origin xyz="0 0 0" rpy="0 0 0"/>
            <mass value="0"/>
            <inertia ixx=".1" ixy=".1" ixz=".1" iyy=".1" iyz=".1" izz=".1"/>
        </inertial>
        <visual>
            <origin xyz="0 0 0" rpy="0 0 0"/>
            <geometry>
                <box size="0.2 0.2 0.02"/>
            </geometry>
        </visual>
        <collision>
            <origin xyz="0 0 0" rpy="0 0 0"/>
            <geometry>
                <box size="0.2 0.2 0.02"/>
            </geometry>
        </collision>
    </link>
    <!-- Joint: hand_1_a, hand_1_a_sensor_0_bottom -->
    <joint name="hand_1_a_hand_1_a_sensor_0_bottom_joint" type="fixed">
        <parent link="hand_1_a"/>
        <child link="hand_1_a_sensor_0_bottom"/>
        <origin xyz="0 0 -0.6"
                rpy="0 0 0"/>
        <axis xyz="0 1 0"/>
        
    </joint>


    <!-- hand_1_a_sensor_0_left -->
    <link name="hand_1_a_sensor_0_left">
        <inertial>
            <origin xyz="0 0 0" rpy="0 0 0"/>
            <mass value="0"/>
            <inertia ixx=".1" ixy=".1" ixz=".1" iyy=".1" iyz=".1" izz=".1"/>
        </inertial>
        <visual>
            <origin xyz="0 0 0" rpy="0 0 0"/>
            <geometry>
                <box size="0.2 0.02 1.2"/>
            </geometry>
        </visual>
        <collision>
            <origin xyz="0 0 0" rpy="0 0 0"/>
            <geometry>
                <box size="0.2 0.02 1.2"/>
            </geometry>
        </collision>
    </link>
    <!-- Joint: hand_1_a, hand_1_a_sensor_0_left -->
    <joint name="hand_1_a_hand_1_a_sensor_0_left_joint" type="fixed">
        <parent link="hand_1_a"/>
        <child link="hand_1_a_sensor_0_left"/>
        <origin xyz="0 0.1 0"
                rpy="0 0 0"/>
        <axis xyz="0 1 0"/>
        
    </joint>


    <!-- hand_1_a_sensor_0_right -->
    <link name="hand_1_a_sensor_0_right">
        <inertial>
            <origin xyz="0 0 0" rpy="0 0 0"/>
            <mass value="0"/>
            <inertia ixx=".1" ixy=".1" ixz=".1" iyy=".1" iyz=".1" izz=".1"/>
        </inertial>
        <visual>
            <origin xyz="0 0 0" rpy="0 0 0"/>
            <geometry>
                <box size="0.2 0.02 1.2"/>
            </geometry>
        </visual>
        <collision>
            <origin xyz="0 0 0" rpy="0 0 0"/>
            <geometry>
                <box size="0.2 0.02 1.2"/>
            </geometry>
        </collision>
    </link>
    <!-- Joint: hand_1_a, hand_1_a_sensor_0_right -->
    <joint name="hand_1_a_hand_1_a_sensor_0_right_joint" type="fixed">
        <parent link="hand_1_a"/>
        <child link="hand_1_a_sensor_0_right"/>
        <origin xyz="0 -0.1 0"
                rpy="0 0 0"/>
        <axis xyz="0 1 0"/>
        
    </joint>
    <!-- Joint: palm_1, hand_1_a -->
    <joint name="palm_1_hand_1_a_joint" type="fixed">
        <parent link="palm_1"/>
        <child link="hand_1_a"/>
        <origin xyz="0 -0.4 -0.7"
                rpy="0 0 0"/>
        <axis xyz="0 1 0"/>
        
    </joint>


    <!-- hand_2_a -->
    <link name="hand_2_a">
        <inertial>
            <origin xyz="0 0 0" rpy="0 0 0"/>
            <mass value="2"/>
            <inertia ixx=".1" ixy=".1" ixz=".1" iyy=".1" iyz=".1" izz=".1"/>
        </inertial>
        <visual>
            <origin xyz="0 0 0" rpy="0 0 0"/>
            <geometry>
                <box size="0.2 0.2 1.2"/>
            </geometry>
        </visual>
        <collision>
            <origin xyz="0 0 0" rpy="0 0 0"/>
            <geometry>
                <box size="0.2 0.2 1.2"/>
            </geometry>
        </collision>
    </link>


    <!-- hand_2_a_sensor_0_start -->
    <link name="hand_2_a_sensor_0_start">
        <inertial>
            <origin xyz="0 0 0" rpy="0 0 0"/>
            <mass value="0"/>
            <inertia ixx=".1" ixy=".1" ixz=".1" iyy=".1" iyz=".1" izz=".1"/>
        </inertial>
        <visual>
            <origin xyz="0 0 0" rpy="0 0 0"/>
            <geometry>
                <box size="0.02 0.2 1.2"/>
            </geometry>
        </visual>
        <collision>
            <origin xyz="0 0 0" rpy="0 0 0"/>
            <geometry>
                <box size="0.02 0.2 1.2"/>
            </geometry>
        </collision>
    </link>
    <!-- Joint: hand_2_a, hand_2_a_sensor_0_start -->
    <joint name="hand_2_a_hand_2_a_sensor_0_start_joint" type="fixed">
        <parent link="hand_2_a"/>
        <child link="hand_2_a_sensor_0_start"/>
        <origin xyz="0.1 0 0"
                rpy="0 0 0"/>
        <axis xyz="0 1 0"/>
        
    </joint>


    <!-- hand_2_a_sensor_0_stop -->
    <link name="hand_2_a_sensor_0_stop">
        <inertial>
            <origin xyz="0 0 0" rpy="0 0 0"/>
            <mass value="0"/>
            <inertia ixx=".1" ixy=".1" ixz=".1" iyy=".1" iyz=".1" izz=".1"/>
        </inertial>
        <visual>
            <origin xyz="0 0 0" rpy="0 0 0"/>
            <geometry>
                <box size="0.02 0.2 1.2"/>
            </geometry>
        </visual>
        <collision>
            <origin xyz="0 0 0" rpy="0 0 0"/>
            <geometry>
                <box size="0.02 0.2 1.2"/>
            </geometry>
        </collision>
    </link>
    <!-- Joint: hand_2_a, hand_2_a_sensor_0_stop -->
    <joint name="hand_2_a_hand_2_a_sensor_0_stop_joint" type="fixed">
        <parent link="hand_2_a"/>
        <child link="hand_2_a_sensor_0_stop"/>
        <origin xyz="-0.1 0 0"
                rpy="0 0 0"/>
        <axis xyz="0 1 0"/>
        
    </joint>


    <!-- hand_2_a_sensor_0_top -->
    <link name="hand_2_a_sensor_0_top">
        <inertial>
            <origin xyz="0 0 0" rpy="0 0 0"/>
            <mass value="0"/>
            <inertia ixx=".1" ixy=".1" ixz=".1" iyy=".1" iyz=".1" izz=".1"/>
        </inertial>
        <visual>
            <origin xyz="0 0 0" rpy="0 0 0"/>
            <geometry>
                <box size="0.2 0.2 0.02"/>
            </geometry>
        </visual>
        <collision>
            <origin xyz="0 0 0" rpy="0 0 0"/>
            <geometry>
                <box size="0.2 0.2 0.02"/>
            </geometry>
        </collision>
    </link>
    <!-- Joint: hand_2_a, hand_2_a_sensor_0_top -->
    <joint name="hand_2_a_hand_2_a_sensor_0_top_joint" type="fixed">
        <parent link="hand_2_a"/>
        <child link="hand_2_a_sensor_0_top"/>
        <origin xyz="0 0 0.6"
                rpy="0 0 0"/>
        <axis xyz="0 1 0"/>
        
    </joint>


    <!-- hand_2_a_sensor_0_bottom -->
    <link name="hand_2_a_sensor_0_bottom">
        <inertial>
            <origin xyz="0 0 0" rpy="0 0 0"/>
            <mass value="0"/>
            <inertia ixx=".1" ixy=".1" ixz=".1" iyy=".1" iyz=".1" izz=".1"/>
        </inertial>
        <visual>
            <origin xyz="0 0 0" rpy="0 0 0"/>
            <geometry>
                <box size="0.2 0.2 0.02"/>
            </geometry>
        </visual>
        <collision>
            <origin xyz="0 0 0" rpy="0 0 0"/>
            <geometry>
                <box size="0.2 0.2 0.02"/>
            </geometry>
        </collision>
    </link>
    <!-- Joint: hand_2_a, hand_2_a_sensor_0_bottom -->
    <joint name="hand_2_a_hand_2_a_sensor_0_bottom_joint" type="fixed">
        <parent link="hand_2_a"/>
        <child link="hand_2_a_sensor_0_bottom"/>
        <origin xyz="0 0 -0.6"
                rpy="0 0 0"/>
        <axis xyz="0 1 0"/>
        
    </joint>


    <!-- hand_2_a_sensor_0_left -->
    <link name="hand_2_a_sensor_0_left">
        <inertial>
            <origin xyz="0 0 0" rpy="0 0 0"/>
            <mass value="0"/>
            <inertia ixx=".1" ixy=".1" ixz=".1" iyy=".1" iyz=".1" izz=".1"/>
        </inertial>
        <visual>
            <origin xyz="0 0 0" rpy="0 0 0"/>
            <geometry>
                <box size="0.2 0.02 1.2"/>
            </geometry>
        </visual>
        <collision>
            <origin xyz="0 0 0" rpy="0 0 0"/>
            <geometry>
                <box size="0.2 0.02 1.2"/>
            </geometry>
        </collision>
    </link>
    <!-- Joint: hand_2_a, hand_2_a_sensor_0_left -->
    <joint name="hand_2_a_hand_2_a_sensor_0_left_joint" type="fixed">
        <parent link="hand_2_a"/>
        <child link="hand_2_a_sensor_0_left"/>
        <origin xyz="0 0.1 0"
                rpy="0 0 0"/>
        <axis xyz="0 1 0"/>
        
    </joint>


    <!-- hand_2_a_sensor_0_right -->
    <link name="hand_2_a_sensor_0_right">
        <inertial>
            <origin xyz="0 0 0" rpy="0 0 0"/>
            <mass value="0"/>
            <inertia ixx=".1" ixy=".1" ixz=".1" iyy=".1" iyz=".1" izz=".1"/>
        </inertial>
        <visual>
            <origin xyz="0 0 0" rpy="0 0 0"/>
            <geometry>
                <box size="0.2 0.02 1.2"/>
            </geometry>
        </visual>
        <collision>
            <origin xyz="0 0 0" rpy="0 0 0"/>
            <geometry>
                <box size="0.2 0.02 1.2"/>
            </geometry>
        </collision>
    </link>
    <!-- Joint: hand_2_a, hand_2_a_sensor_0_right -->
    <joint name="hand_2_a_hand_2_a_sensor_0_right_joint" type="fixed">
        <parent link="hand_2_a"/>
        <child link="hand_2_a_sensor_0_right"/>
        <origin xyz="0 -0.1 0"
                rpy="0 0 0"/>
        <axis xyz="0 1 0"/>
        
    </joint>
    <!-- Joint: palm_2, hand_2_a -->
    <joint name="palm_2_hand_2_a_joint" type="fixed">
        <parent link="palm_2"/>
        <child link="hand_2_a"/>
        <origin xyz="0 0.4 -0.7"
                rpy="0 0 0"/>
        <axis xyz="0 1 0"/>
        
    </joint>


    <!-- hand_3_a -->
    <link name="hand_3_a">
        <inertial>
            <origin xyz="0 0 0" rpy="0 0 0"/>
            <mass value="2"/>
            <inertia ixx=".1" ixy=".1" ixz=".1" iyy=".1" iyz=".1" izz=".1"/>
        </inertial>
        <visual>
            <origin xyz="0 0 0" rpy="0 0 0"/>
            <geometry>
                <box size="0.2 0.2 1.2"/>
            </geometry>
        </visual>
        <collision>
            <origin xyz="0 0 0" rpy="0 0 0"/>
            <geometry>
                <box size="0.2 0.2 1.2"/>
            </geometry>
        </collision>
    </link>


    <!-- hand_3_a_sensor_0_start -->
    <link name="hand_3_a_sensor_0_start">
        <inertial>
            <origin xyz="0 0 0" rpy="0 0 0"/>
            <mass value="0"/>
            <inertia ixx=".1" ixy=".1" ixz=".1" iyy=".1" iyz=".1" izz=".1"/>
        </inertial>
        <visual>
            <origin xyz="0 0 0" rpy="0 0 0"/>
            <geometry>
                <box size="0.02 0.2 1.2"/>
            </geometry>
        </visual>
        <collision>
            <origin xyz="0 0 0" rpy="0 0 0"/>
            <geometry>
                <box size="0.02 0.2 1.2"/>
            </geometry>
        </collision>
    </link>
    <!-- Joint: hand_3_a, hand_3_a_sensor_0_start -->
    <joint name="hand_3_a_hand_3_a_sensor_0_start_joint" type="fixed">
        <parent link="hand_3_a"/>
        <child link="hand_3_a_sensor_0_start"/>
        <origin xyz="0.1 0 0"
                rpy="0 0 0"/>
        <axis xyz="0 1 0"/>
        
    </joint>


    <!-- hand_3_a_sensor_0_stop -->
    <link name="hand_3_a_sensor_0_stop">
        <inertial>
            <origin xyz="0 0 0" rpy="0 0 0"/>
            <mass value="0"/>
            <inertia ixx=".1" ixy=".1" ixz=".1" iyy=".1" iyz=".1" izz=".1"/>
        </inertial>
        <visual>
            <origin xyz="0 0 0" rpy="0 0 0"/>
            <geometry>
                <box size="0.02 0.2 1.2"/>
            </geometry>
        </visual>
        <collision>
            <origin xyz="0 0 0" rpy="0 0 0"/>
            <geometry>
                <box size="0.02 0.2 1.2"/>
            </geometry>
        </collision>
    </link>
    <!-- Joint: hand_3_a, hand_3_a_sensor_0_stop -->
    <joint name="hand_3_a_hand_3_a_sensor_0_stop_joint" type="fixed">
        <parent link="hand_3_a"/>
        <child link="hand_3_a_sensor_0_stop"/>
        <origin xyz="-0.1 0 0"
                rpy="0 0 0"/>
        <axis xyz="0 1 0"/>
        
    </joint>


    <!-- hand_3_a_sensor_0_top -->
    <link name="hand_3_a_sensor_0_top">
        <inertial>
            <origin xyz="0 0 0" rpy="0 0 0"/>
            <mass value="0"/>
            <inertia ixx=".1" ixy=".1" ixz=".1" iyy=".1" iyz=".1" izz=".1"/>
        </inertial>
        <visual>
            <origin xyz="0 0 0" rpy="0 0 0"/>
            <geometry>
                <box size="0.2 0.2 0.02"/>
            </geometry>
        </visual>
        <collision>
            <origin xyz="0 0 0" rpy="0 0 0"/>
            <geometry>
                <box size="0.2 0.2 0.02"/>
            </geometry>
        </collision>
    </link>
    <!-- Joint: hand_3_a, hand_3_a_sensor_0_top -->
    <joint name="hand_3_a_hand_3_a_sensor_0_top_joint" type="fixed">
        <parent link="hand_3_a"/>
        <child link="hand_3_a_sensor_0_top"/>
        <origin xyz="0 0 0.6"
                rpy="0 0 0"/>
        <axis xyz="0 1 0"/>
        
    </joint>


    <!-- hand_3_a_sensor_0_bottom -->
    <link name="hand_3_a_sensor_0_bottom">
        <inertial>
            <origin xyz="0 0 0" rpy="0 0 0"/>
            <mass value="0"/>
            <inertia ixx=".1" ixy=".1" ixz=".1" iyy=".1" iyz=".1" izz=".1"/>
        </inertial>
        <visual>
            <origin xyz="0 0 0" rpy="0 0 0"/>
            <geometry>
                <box size="0.2 0.2 0.02"/>
            </geometry>
        </visual>
        <collision>
            <origin xyz="0 0 0" rpy="0 0 0"/>
            <geometry>
                <box size="0.2 0.2 0.02"/>
            </geometry>
        </collision>
    </link>
    <!-- Joint: hand_3_a, hand_3_a_sensor_0_bottom -->
    <joint name="hand_3_a_hand_3_a_sensor_0_bottom_joint" type="fixed">
        <parent link="hand_3_a"/>
        <child link="hand_3_a_sensor_0_bottom"/>
        <origin xyz="0 0 -0.6"
                rpy="0 0 0"/>
        <axis xyz="0 1 0"/>
        
    </joint>


    <!-- hand_3_a_sensor_0_left -->
    <link name="hand_3_a_sensor_0_left">
        <inertial>
            <origin xyz="0 0 0" rpy="0 0 0"/>
            <mass value="0"/>
            <inertia ixx=".1" ixy=".1" ixz=".1" iyy=".1" iyz=".1" izz=".1"/>
        </inertial>
        <visual>
            <origin xyz="0 0 0" rpy="0 0 0"/>
            <geometry>
                <box size="0.2 0.02 1.2"/>
            </geometry>
        </visual>
        <collision>
            <origin xyz="0 0 0" rpy="0 0 0"/>
            <geometry>
                <box size="0.2 0.02 1.2"/>
            </geometry>
        </collision>
    </link>
    <!-- Joint: hand_3_a, hand_3_a_sensor_0_left -->
    <joint name="hand_3_a_hand_3_a_sensor_0_left_joint" type="fixed">
        <parent link="hand_3_a"/>
        <child link="hand_3_a_sensor_0_left"/>
        <origin xyz="0 0.1 0"
                rpy="0 0 0"/>
        <axis xyz="0 1 0"/>
        
    </joint>


    <!-- hand_3_a_sensor_0_right -->
    <link name="hand_3_a_sensor_0_right">
        <inertial>
            <origin xyz="0 0 0" rpy="0 0 0"/>
            <mass value="0"/>
            <inertia ixx=".1" ixy=".1" ixz=".1" iyy=".1" iyz=".1" izz=".1"/>
        </inertial>
        <visual>
            <origin xyz="0 0 0" rpy="0 0 0"/>
            <geometry>
                <box size="0.2 0.02 1.2"/>
            </geometry>
        </visual>
        <collision>
            <origin xyz="0 0 0" rpy="0 0 0"/>
            <geometry>
                <box size="0.2 0.02 1.2"/>
            </geometry>
        </collision>
    </link>
    <!-- Joint: hand_3_a, hand_3_a_sensor_0_right -->
    <joint name="hand_3_a_hand_3_a_sensor_0_right_joint" type="fixed">
        <parent link="hand_3_a"/>
        <child link="hand_3_a_sensor_0_right"/>
        <origin xyz="0 -0.1 0"
                rpy="0 0 0"/>
        <axis xyz="0 1 0"/>
        
    </joint>
    <!-- Joint: arm, hand_3_a -->
    <joint name="arm_hand_3_a_joint" type="fixed">
        <parent link="arm"/>
        <child link="hand_3_a"/>
        <origin xyz="1.275 0 -0.7"
                rpy="0 0 0"/>
        <axis xyz="0 1 0"/>
        
    </joint>


    <!-- hand_3_b -->
    <link name="hand_3_b">
        <inertial>
            <origin xyz="0 0 0" rpy="0 0 0"/>
            <mass value="2"/>
            <inertia ixx=".1" ixy=".1" ixz=".1" iyy=".1" iyz=".1" izz=".1"/>
        </inertial>
        <visual>
            <origin xyz="0 0 0" rpy="0 0 0"/>
            <geometry>
                <box size="0.2 0.2 1.2"/>
            </geometry>
        </visual>
        <collision>
            <origin xyz="0 0 0" rpy="0 0 0"/>
            <geometry>
                <box size="0.2 0.2 1.2"/>
            </geometry>
        </collision>
    </link>


    <!-- hand_3_b_sensor_0_start -->
    <link name="hand_3_b_sensor_0_start">
        <inertial>
            <origin xyz="0 0 0" rpy="0 0 0"/>
            <mass value="0"/>
            <inertia ixx=".1" ixy=".1" ixz=".1" iyy=".1" iyz=".1" izz=".1"/>
        </inertial>
        <visual>
            <origin xyz="0 0 0" rpy="0 0 0"/>
            <geometry>
                <box size="0.02 0.2 1.2"/>
            </geometry>
        </visual>
        <collision>
            <origin xyz="0 0 0" rpy="0 0 0"/>
            <geometry>
                <box size="0.02 0.2 1.2"/>
            </geometry>
        </collision>
    </link>
    <!-- Joint: hand_3_b, hand_3_b_sensor_0_start -->
    <joint name="hand_3_b_hand_3_b_sensor_0_start_joint" type="fixed">
        <parent link="hand_3_b"/>
        <child link="hand_3_b_sensor_0_start"/>
        <origin xyz="0.1 0 0"
                rpy="0 0 0"/>
        <axis xyz="0 1 0"/>
        
    </joint>


    <!-- hand_3_b_sensor_0_stop -->
    <link name="hand_3_b_sensor_0_stop">
        <inertial>
            <origin xyz="0 0 0" rpy="0 0 0"/>
            <mass value="0"/>
            <inertia ixx=".1" ixy=".1" ixz=".1" iyy=".1" iyz=".1" izz=".1"/>
        </inertial>
        <visual>
            <origin xyz="0 0 0" rpy="0 0 0"/>
            <geometry>
                <box size="0.02 0.2 1.2"/>
            </geometry>
        </visual>
        <collision>
            <origin xyz="0 0 0" rpy="0 0 0"/>
            <geometry>
                <box size="0.02 0.2 1.2"/>
            </geometry>
        </collision>
    </link>
    <!-- Joint: hand_3_b, hand_3_b_sensor_0_stop -->
    <joint name="hand_3_b_hand_3_b_sensor_0_stop_joint" type="fixed">
        <parent link="hand_3_b"/>
        <child link="hand_3_b_sensor_0_stop"/>
        <origin xyz="-0.1 0 0"
                rpy="0 0 0"/>
        <axis xyz="0 1 0"/>
        
    </joint>


    <!-- hand_3_b_sensor_0_top -->
    <link name="hand_3_b_sensor_0_top">
        <inertial>
            <origin xyz="0 0 0" rpy="0 0 0"/>
            <mass value="0"/>
            <inertia ixx=".1" ixy=".1" ixz=".1" iyy=".1" iyz=".1" izz=".1"/>
        </inertial>
        <visual>
            <origin xyz="0 0 0" rpy="0 0 0"/>
            <geometry>
                <box size="0.2 0.2 0.02"/>
            </geometry>
        </visual>
        <collision>
            <origin xyz="0 0 0" rpy="0 0 0"/>
            <geometry>
                <box size="0.2 0.2 0.02"/>
            </geometry>
        </collision>
    </link>
    <!-- Joint: hand_3_b, hand_3_b_sensor_0_top -->
    <joint name="hand_3_b_hand_3_b_sensor_0_top_joint" type="fixed">
        <parent link="hand_3_b"/>
        <child link="hand_3_b_sensor_0_top"/>
        <origin xyz="0 0 0.6"
                rpy="0 0 0"/>
        <axis xyz="0 1 0"/>
        
    </joint>


    <!-- hand_3_b_sensor_0_bottom -->
    <link name="hand_3_b_sensor_0_bottom">
        <inertial>
            <origin xyz="0 0 0" rpy="0 0 0"/>
            <mass value="0"/>
            <inertia ixx=".1" ixy=".1" ixz=".1" iyy=".1" iyz=".1" izz=".1"/>
        </inertial>
        <visual>
            <origin xyz="0 0 0" rpy="0 0 0"/>
            <geometry>
                <box size="0.2 0.2 0.02"/>
            </geometry>
        </visual>
        <collision>
            <origin xyz="0 0 0" rpy="0 0 0"/>
            <geometry>
                <box size="0.2 0.2 0.02"/>
            </geometry>
        </collision>
    </link>
    <!-- Joint: hand_3_b, hand_3_b_sensor_0_bottom -->
    <joint name="hand_3_b_hand_3_b_sensor_0_bottom_joint" type="fixed">
        <parent link="hand_3_b"/>
        <child link="hand_3_b_sensor_0_bottom"/>
        <origin xyz="0 0 -0.6"
                rpy="0 0 0"/>
        <axis xyz="0 1 0"/>
        
    </joint>


    <!-- hand_3_b_sensor_0_left -->
    <link name="hand_3_b_sensor_0_left">
        <inertial>
            <origin xyz="0 0 0" rpy="0 0 0"/>
            <mass value="0"/>
            <inertia ixx=".1" ixy=".1" ixz=".1" iyy=".1" iyz=".1" izz=".1"/>
        </inertial>
        <visual>
            <origin xyz="0 0 0" rpy="0 0 0"/>
            <geometry>
                <box size="0.2 0.02 1.2"/>
            </geometry>
        </visual>
        <collision>
            <origin xyz="0 0 0" rpy="0 0 0"/>
            <geometry>
                <box size="0.2 0.02 1.2"/>
            </geometry>
        </collision>
    </link>
    <!-- Joint: hand_3_b, hand_3_b_sensor_0_left -->
    <joint name="hand_3_b_hand_3_b_sensor_0_left_joint" type="fixed">
        <parent link="hand_3_b"/>
        <child link="hand_3_b_sensor_0_left"/>
        <origin xyz="0 0.1 0"
                rpy="0 0 0"/>
        <axis xyz="0 1 0"/>
        
    </joint>


    <!-- hand_3_b_sensor_0_right -->
    <link name="hand_3_b_sensor_0_right">
        <inertial>
            <origin xyz="0 0 0" rpy="0 0 0"/>
            <mass value="0"/>
            <inertia ixx=".1" ixy=".1" ixz=".1" iyy=".1" iyz=".1" izz=".1"/>
        </inertial>
        <visual>
            <origin xyz="0 0 0" rpy="0 0 0"/>
            <geometry>
                <box size="0.2 0.02 1.2"/>
            </geometry>
        </visual>
        <collision>
            <origin xyz="0 0 0" rpy="0 0 0"/>
            <geometry>
                <box size="0.2 0.02 1.2"/>
            </geometry>
        </collision>
    </link>
    <!-- Joint: hand_3_b, hand_3_b_sensor_0_right -->
    <joint name="hand_3_b_hand_3_b_sensor_0_right_joint" type="fixed">
        <parent link="hand_3_b"/>
        <child link="hand_3_b_sensor_0_right"/>
        <origin xyz="0 -0.1 0"
                rpy="0 0 0"/>
        <axis xyz="0 1 0"/>
        
    </joint>
    <!-- Joint: hand_3_a, hand_3_b -->
    <joint name="hand_3_a_hand_3_b_joint" type="fixed">
        <parent link="hand_3_a"/>
        <child link="hand_3_b"/>
        <origin xyz="0.29999999999999993 0 -1.1196152422706631"
                rpy="0 -0.5235987755982988 0"/>
        <axis xyz="0 1 0"/>
        
    </joint>


    <!-- hand_3_c -->
    <link name="hand_3_c">
        <inertial>
            <origin xyz="0 0 0" rpy="0 0 0"/>
            <mass value="2"/>
            <inertia ixx=".1" ixy=".1" ixz=".1" iyy=".1" iyz=".1" izz=".1"/>
        </inertial>
        <visual>
            <origin xyz="0 0 0" rpy="0 0 0"/>
            <geometry>
                <box size="0.2 0.2 1.2"/>
            </geometry>
        </visual>
        <collision>
            <origin xyz="0 0 0" rpy="0 0 0"/>
            <geometry>
                <box size="0.2 0.2 1.2"/>
            </geometry>
        </collision>
    </link>


    <!-- hand_3_c_sensor_0_start -->
    <link name="hand_3_c_sensor_0_start">
        <inertial>
            <origin xyz="0 0 0" rpy="0 0 0"/>
            <mass value="0"/>
            <inertia ixx=".1" ixy=".1" ixz=".1" iyy=".1" iyz=".1" izz=".1"/>
        </inertial>
        <visual>
            <origin xyz="0 0 0" rpy="0 0 0"/>
            <geometry>
                <box size="0.02 0.2 1.2"/>
            </geometry>
        </visual>
        <collision>
            <origin xyz="0 0 0" rpy="0 0 0"/>
            <geometry>
                <box size="0.02 0.2 1.2"/>
            </geometry>
        </collision>
    </link>
    <!-- Joint: hand_3_c, hand_3_c_sensor_0_start -->
    <joint name="hand_3_c_hand_3_c_sensor_0_start_joint" type="fixed">
        <parent link="hand_3_c"/>
        <child link="hand_3_c_sensor_0_start"/>
        <origin xyz="0.1 0 0"
                rpy="0 0 0"/>
        <axis xyz="0 1 0"/>
        
    </joint>


    <!-- hand_3_c_sensor_0_stop -->
    <link name="hand_3_c_sensor_0_stop">
        <inertial>
            <origin xyz="0 0 0" rpy="0 0 0"/>
            <mass value="0"/>
            <inertia ixx=".1" ixy=".1" ixz=".1" iyy=".1" iyz=".1" izz=".1"/>
        </inertial>
        <visual>
            <origin xyz="0 0 0" rpy="0 0 0"/>
            <geometry>
                <box size="0.02 0.2 1.2"/>
            </geometry>
        </visual>
        <collision>
            <origin xyz="0 0 0" rpy="0 0 0"/>
            <geometry>
                <box size="0.02 0.2 1.2"/>
            </geometry>
        </collision>
    </link>
    <!-- Joint: hand_3_c, hand_3_c_sensor_0_stop -->
    <joint name="hand_3_c_hand_3_c_sensor_0_stop_joint" type="fixed">
        <parent link="hand_3_c"/>
        <child link="hand_3_c_sensor_0_stop"/>
        <origin xyz="-0.1 0 0"
                rpy="0 0 0"/>
        <axis xyz="0 1 0"/>
        
    </joint>


    <!-- hand_3_c_sensor_0_top -->
    <link name="hand_3_c_sensor_0_top">
        <inertial>
            <origin xyz="0 0 0" rpy="0 0 0"/>
            <mass value="0"/>
            <inertia ixx=".1" ixy=".1" ixz=".1" iyy=".1" iyz=".1" izz=".1"/>
        </inertial>
        <visual>
            <origin xyz="0 0 0" rpy="0 0 0"/>
            <geometry>
                <box size="0.2 0.2 0.02"/>
            </geometry>
        </visual>
        <collision>
            <origin xyz="0 0 0" rpy="0 0 0"/>
            <geometry>
                <box size="0.2 0.2 0.02"/>
            </geometry>
        </collision>
    </link>
    <!-- Joint: hand_3_c, hand_3_c_sensor_0_top -->
    <joint name="hand_3_c_hand_3_c_sensor_0_top_joint" type="fixed">
        <parent link="hand_3_c"/>
        <child link="hand_3_c_sensor_0_top"/>
        <origin xyz="0 0 0.6"
                rpy="0 0 0"/>
        <axis xyz="0 1 0"/>
        
    </joint>


    <!-- hand_3_c_sensor_0_bottom -->
    <link name="hand_3_c_sensor_0_bottom">
        <inertial>
            <origin xyz="0 0 0" rpy="0 0 0"/>
            <mass value="0"/>
            <inertia ixx=".1" ixy=".1" ixz=".1" iyy=".1" iyz=".1" izz=".1"/>
        </inertial>
        <visual>
            <origin xyz="0 0 0" rpy="0 0 0"/>
            <geometry>
                <box size="0.2 0.2 0.02"/>
            </geometry>
        </visual>
        <collision>
            <origin xyz="0 0 0" rpy="0 0 0"/>
            <geometry>
                <box size="0.2 0.2 0.02"/>
            </geometry>
        </collision>
    </link>
    <!-- Joint: hand_3_c, hand_3_c_sensor_0_bottom -->
    <joint name="hand_3_c_hand_3_c_sensor_0_bottom_joint" type="fixed">
        <parent link="hand_3_c"/>
        <child link="hand_3_c_sensor_0_bottom"/>
        <origin xyz="0 0 -0.6"
                rpy="0 0 0"/>
        <axis xyz="0 1 0"/>
        
    </joint>


    <!-- hand_3_c_sensor_0_left -->
    <link name="hand_3_c_sensor_0_left">
        <inertial>
            <origin xyz="0 0 0" rpy="0 0 0"/>
            <mass value="0"/>
            <inertia ixx=".1" ixy=".1" ixz=".1" iyy=".1" iyz=".1" izz=".1"/>
        </inertial>
        <visual>
            <origin xyz="0 0 0" rpy="0 0 0"/>
            <geometry>
                <box size="0.2 0.02 1.2"/>
            </geometry>
        </visual>
        <collision>
            <origin xyz="0 0 0" rpy="0 0 0"/>
            <geometry>
                <box size="0.2 0.02 1.2"/>
            </geometry>
        </collision>
    </link>
    <!-- Joint: hand_3_c, hand_3_c_sensor_0_left -->
    <joint name="hand_3_c_hand_3_c_sensor_0_left_joint" type="fixed">
        <parent link="hand_3_c"/>
        <child link="hand_3_c_sensor_0_left"/>
        <origin xyz="0 0.1 0"
                rpy="0 0 0"/>
        <axis xyz="0 1 0"/>
        
    </joint>


    <!-- hand_3_c_sensor_0_right -->
    <link name="hand_3_c_sensor_0_right">
        <inertial>
            <origin xyz="0 0 0" rpy="0 0 0"/>
            <mass value="0"/>
            <inertia ixx=".1" ixy=".1" ixz=".1" iyy=".1" iyz=".1" izz=".1"/>
        </inertial>
        <visual>
            <origin xyz="0 0 0" rpy="0 0 0"/>
            <geometry>
                <box size="0.2 0.02 1.2"/>
            </geometry>
        </visual>
        <collision>
            <origin xyz="0 0 0" rpy="0 0 0"/>
            <geometry>
                <box size="0.2 0.02 1.2"/>
            </geometry>
        </collision>
    </link>
    <!-- Joint: hand_3_c, hand_3_c_sensor_0_right -->
    <joint name="hand_3_c_hand_3_c_sensor_0_right_joint" type="fixed">
        <parent link="hand_3_c"/>
        <child link="hand_3_c_sensor_0_right"/>
        <origin xyz="0 -0.1 0"
                rpy="0 0 0"/>
        <axis xyz="0 1 0"/>
        
    </joint>
    <!-- Joint: hand_3_b, hand_3_c -->
    <joint name="hand_3_b_hand_3_c_joint" type="fixed">
        <parent link="hand_3_b"/>
        <child link="hand_3_c"/>
        <origin xyz="0.29999999999999993 0 -1.1196152422706631"
                rpy="0 0.5235987755982988 0"/>
        <axis xyz="0 1 0"/>
        
    </joint>


    <!-- body_face_front_0 -->
    <link name="body_face_front_0">
        <inertial>
            <origin xyz="0 0 0" rpy="0 0 0"/>
            <mass value="0"/>
            <inertia ixx=".1" ixy=".1" ixz=".1" iyy=".1" iyz=".1" izz=".1"/>
        </inertial>
        <visual>
            <origin xyz="0 0 0" rpy="0 0 0"/>
            <geometry>
                <box size="0.002 0.1111111111111111 0.1111111111111111"/>
            </geometry>
        </visual>
        <collision>
            <origin xyz="0 0 0" rpy="0 0 0"/>
            <geometry>
                <box size="0.002 0.1111111111111111 0.1111111111111111"/>
            </geometry>
        </collision>
    </link>
    <!-- Joint: body, body_face_front_0 -->
    <joint name="body_body_face_front_0_joint" type="fixed">
        <parent link="body"/>
        <child link="body_face_front_0"/>
        <origin xyz="0.501 -0.33333333333333337 0.11111111111111116"
                rpy="0 0 0"/>
        <axis xyz="0 0 1"/>
        
    </joint>


    <!-- body_face_front_1 -->
    <link name="body_face_front_1">
        <inertial>
            <origin xyz="0 0 0" rpy="0 0 0"/>
            <mass value="0"/>
            <inertia ixx=".1" ixy=".1" ixz=".1" iyy=".1" iyz=".1" izz=".1"/>
        </inertial>
        <visual>
            <origin xyz="0 0 0" rpy="0 0 0"/>
            <geometry>
                <box size="0.002 0.1111111111111111 0.1111111111111111"/>
            </geometry>
        </visual>
        <collision>
            <origin xyz="0 0 0" rpy="0 0 0"/>
            <geometry>
                <box size="0.002 0.1111111111111111 0.1111111111111111"/>
            </geometry>
        </collision>
    </link>
    <!-- Joint: body, body_face_front_1 -->
    <joint name="body_body_face_front_1_joint" type="fixed">
        <parent link="body"/>
        <child link="body_face_front_1"/>
        <origin xyz="0.501 -0.2222222222222222 0.2222222222222222"
                rpy="0 0 0"/>
        <axis xyz="0 0 1"/>
        
    </joint>


    <!-- body_face_front_2 -->
    <link name="body_face_front_2">
        <inertial>
            <origin xyz="0 0 0" rpy="0 0 0"/>
            <mass value="0"/>
            <inertia ixx=".1" ixy=".1" ixz=".1" iyy=".1" iyz=".1" izz=".1"/>
        </inertial>
        <visual>
            <origin xyz="0 0 0" rpy="0 0 0"/>
            <geometry>
                <box size="0.002 0.1111111111111111 0.1111111111111111"/>
            </geometry>
        </visual>
        <collision>
            <origin xyz="0 0 0" rpy="0 0 0"/>
            <geometry>
                <box size="0.002 0.1111111111111111 0.1111111111111111"/>
            </geometry>
        </collision>
    </link>
    <!-- Joint: body, body_face_front_2 -->
    <joint name="body_body_face_front_2_joint" type="fixed">
        <parent link="body"/>
        <child link="body_face_front_2"/>
        <origin xyz="0.501 -0.1111111111111111 0.11111111111111116"
                rpy="0 0 0"/>
        <axis xyz="0 0 1"/>
        
    </joint>


    <!-- body_face_front_3 -->
    <link name="body_face_front_3">
        <inertial>
            <origin xyz="0 0 0" rpy="0 0 0"/>
            <mass value="0"/>
            <inertia ixx=".1" ixy=".1" ixz=".1" iyy=".1" iyz=".1" izz=".1"/>
        </inertial>
        <visual>
            <origin xyz="0 0 0" rpy="0 0 0"/>
            <geometry>
                <box size="0.002 0.1111111111111111 0.1111111111111111"/>
            </geometry>
        </visual>
        <collision>
            <origin xyz="0 0 0" rpy="0 0 0"/>
            <geometry>
                <box size="0.002 0.1111111111111111 0.1111111111111111"/>
            </geometry>
        </collision>
    </link>
    <!-- Joint: body, body_face_front_3 -->
    <joint name="body_body_face_front_3_joint" type="fixed">
        <parent link="body"/>
        <child link="body_face_front_3"/>
        <origin xyz="0.501 -0.1111111111111111 -0.2222222222222222"
                rpy="0 0 0"/>
        <axis xyz="0 0 1"/>
        
    </joint>


    <!-- body_face_front_4 -->
    <link name="body_face_front_4">
        <inertial>
            <origin xyz="0 0 0" rpy="0 0 0"/>
            <mass value="0"/>
            <inertia ixx=".1" ixy=".1" ixz=".1" iyy=".1" iyz=".1" izz=".1"/>
        </inertial>
        <visual>
            <origin xyz="0 0 0" rpy="0 0 0"/>
            <geometry>
                <box size="0.002 0.1111111111111111 0.1111111111111111"/>
            </geometry>
        </visual>
        <collision>
            <origin xyz="0 0 0" rpy="0 0 0"/>
            <geometry>
                <box size="0.002 0.1111111111111111 0.1111111111111111"/>
            </geometry>
        </collision>
    </link>
    <!-- Joint: body, body_face_front_4 -->
    <joint name="body_body_face_front_4_joint" type="fixed">
        <parent link="body"/>
        <child link="body_face_front_4"/>
        <origin xyz="0.501 0.0 -0.2222222222222222"
                rpy="0 0 0"/>
        <axis xyz="0 0 1"/>
        
    </joint>


    <!-- body_face_front_5 -->
    <link name="body_face_front_5">
        <inertial>
            <origin xyz="0 0 0" rpy="0 0 0"/>
            <mass value="0"/>
            <inertia ixx=".1" ixy=".1" ixz=".1" iyy=".1" iyz=".1" izz=".1"/>
        </inertial>
        <visual>
            <origin xyz="0 0 0" rpy="0 0 0"/>
            <geometry>
                <box size="0.002 0.1111111111111111 0.1111111111111111"/>
            </geometry>
        </visual>
        <collision>
            <origin xyz="0 0 0" rpy="0 0 0"/>
            <geometry>
                <box size="0.002 0.1111111111111111 0.1111111111111111"/>
            </geometry>
        </collision>
    </link>
    <!-- Joint: body, body_face_front_5 -->
    <joint name="body_body_face_front_5_joint" type="fixed">
        <parent link="body"/>
        <child link="body_face_front_5"/>
        <origin xyz="0.501 0.11111111111111116 0.11111111111111116"
                rpy="0 0 0"/>
        <axis xyz="0 0 1"/>
        
    </joint>


    <!-- body_face_front_6 -->
    <link name="body_face_front_6">
        <inertial>
            <origin xyz="0 0 0" rpy="0 0 0"/>
            <mass value="0"/>
            <inertia ixx=".1" ixy=".1" ixz=".1" iyy=".1" iyz=".1" izz=".1"/>
        </inertial>
        <visual>
            <origin xyz="0 0 0" rpy="0 0 0"/>
            <geometry>
                <box size="0.002 0.1111111111111111 0.1111111111111111"/>
            </geometry>
        </visual>
        <collision>
            <origin xyz="0 0 0" rpy="0 0 0"/>
            <geometry>
                <box size="0.002 0.1111111111111111 0.1111111111111111"/>
            </geometry>
        </collision>
    </link>
    <!-- Joint: body, body_face_front_6 -->
    <joint name="body_body_face_front_6_joint" type="fixed">
        <parent link="body"/>
        <child link="body_face_front_6"/>
        <origin xyz="0.501 0.11111111111111116 -0.2222222222222222"
                rpy="0 0 0"/>
        <axis xyz="0 0 1"/>
        
    </joint>


    <!-- body_face_front_7 -->
    <link name="body_face_front_7">
        <inertial>
            <origin xyz="0 0 0" rpy="0 0 0"/>
            <mass value="0"/>
            <inertia ixx=".1" ixy=".1" ixz=".1" iyy=".1" iyz=".1" izz=".1"/>
        </inertial>
        <visual>
            <origin xyz="0 0 0" rpy="0 0 0"/>
            <geometry>
                <box size="0.002 0.1111111111111111 0.1111111111111111"/>
            </geometry>
        </visual>
        <collision>
            <origin xyz="0 0 0" rpy="0 0 0"/>
            <geometry>
                <box size="0.002 0.1111111111111111 0.1111111111111111"/>
            </geometry>
        </collision>
    </link>
    <!-- Joint: body, body_face_front_7 -->
    <joint name="body_body_face_front_7_joint" type="fixed">
        <parent link="body"/>
        <child link="body_face_front_7"/>
        <origin xyz="0.501 0.2222222222222222 0.2222222222222222"
                rpy="0 0 0"/>
        <axis xyz="0 0 1"/>
        
    </joint>


    <!-- body_face_front_8 -->
    <link name="body_face_front_8">
        <inertial>
            <origin xyz="0 0 0" rpy="0 0 0"/>
            <mass value="0"/>
            <inertia ixx=".1" ixy=".1" ixz=".1" iyy=".1" iyz=".1" izz=".1"/>
        </inertial>
        <visual>
            <origin xyz="0 0 0" rpy="0 0 0"/>
            <geometry>
                <box size="0.002 0.1111111111111111 0.1111111111111111"/>
            </geometry>
        </visual>
        <collision>
            <origin xyz="0 0 0" rpy="0 0 0"/>
            <geometry>
                <box size="0.002 0.1111111111111111 0.1111111111111111"/>
            </geometry>
        </collision>
    </link>
    <!-- Joint: body, body_face_front_8 -->
    <joint name="body_body_face_front_8_joint" type="fixed">
        <parent link="body"/>
        <child link="body_face_front_8"/>
        <origin xyz="0.501 0.33333333333333337 0.11111111111111116"
                rpy="0 0 0"/>
        <axis xyz="0 0 1"/>
        
    </joint>


    <!-- body_face_top_0 -->
    <link name="body_face_top_0">
        <inertial>
            <origin xyz="0 0 0" rpy="0 0 0"/>
            <mass value="0"/>
            <inertia ixx=".1" ixy=".1" ixz=".1" iyy=".1" iyz=".1" izz=".1"/>
        </inertial>
        <visual>
            <origin xyz="0 0 0" rpy="0 0 0"/>
            <geometry>
                <box size="0.1111111111111111 0.1111111111111111 0.002"/>
            </geometry>
        </visual>
        <collision>
            <origin xyz="0 0 0" rpy="0 0 0"/>
            <geometry>
                <box size="0.1111111111111111 0.1111111111111111 0.002"/>
            </geometry>
        </collision>
    </link>
    <!-- Joint: body, body_face_top_0 -->
    <joint name="body_body_face_top_0_joint" type="fixed">
        <parent link="body"/>
        <child link="body_face_top_0"/>
        <origin xyz="0.11111111111111116 -0.2222222222222222 0.501"
                rpy="0 0 0"/>
        <axis xyz="0 0 1"/>
        
    </joint>


    <!-- body_face_top_1 -->
    <link name="body_face_top_1">
        <inertial>
            <origin xyz="0 0 0" rpy="0 0 0"/>
            <mass value="0"/>
            <inertia ixx=".1" ixy=".1" ixz=".1" iyy=".1" iyz=".1" izz=".1"/>
        </inertial>
        <visual>
            <origin xyz="0 0 0" rpy="0 0 0"/>
            <geometry>
                <box size="0.1111111111111111 0.1111111111111111 0.002"/>
            </geometry>
        </visual>
        <collision>
            <origin xyz="0 0 0" rpy="0 0 0"/>
            <geometry>
                <box size="0.1111111111111111 0.1111111111111111 0.002"/>
            </geometry>
        </collision>
    </link>
    <!-- Joint: body, body_face_top_1 -->
    <joint name="body_body_face_top_1_joint" type="fixed">
        <parent link="body"/>
        <child link="body_face_top_1"/>
        <origin xyz="0.11111111111111116 -0.1111111111111111 0.501"
                rpy="0 0 0"/>
        <axis xyz="0 0 1"/>
        
    </joint>


    <!-- body_face_top_2 -->
    <link name="body_face_top_2">
        <inertial>
            <origin xyz="0 0 0" rpy="0 0 0"/>
            <mass value="0"/>
            <inertia ixx=".1" ixy=".1" ixz=".1" iyy=".1" iyz=".1" izz=".1"/>
        </inertial>
        <visual>
            <origin xyz="0 0 0" rpy="0 0 0"/>
            <geometry>
                <box size="0.1111111111111111 0.1111111111111111 0.002"/>
            </geometry>
        </visual>
        <collision>
            <origin xyz="0 0 0" rpy="0 0 0"/>
            <geometry>
                <box size="0.1111111111111111 0.1111111111111111 0.002"/>
            </geometry>
        </collision>
    </link>
    <!-- Joint: body, body_face_top_2 -->
    <joint name="body_body_face_top_2_joint" type="fixed">
        <parent link="body"/>
        <child link="body_face_top_2"/>
        <origin xyz="0.2222222222222222 -0.1111111111111111 0.501"
                rpy="0 0 0"/>
        <axis xyz="0 0 1"/>
        
    </joint>


    <!-- body_face_top_3 -->
    <link name="body_face_top_3">
        <inertial>
            <origin xyz="0 0 0" rpy="0 0 0"/>
            <mass value="0"/>
            <inertia ixx=".1" ixy=".1" ixz=".1" iyy=".1" iyz=".1" izz=".1"/>
        </inertial>
        <visual>
            <origin xyz="0 0 0" rpy="0 0 0"/>
            <geometry>
                <box size="0.1111111111111111 0.1111111111111111 0.002"/>
            </geometry>
        </visual>
        <collision>
            <origin xyz="0 0 0" rpy="0 0 0"/>
            <geometry>
                <box size="0.1111111111111111 0.1111111111111111 0.002"/>
            </geometry>
        </collision>
    </link>
    <!-- Joint: body, body_face_top_3 -->
    <joint name="body_body_face_top_3_joint" type="fixed">
        <parent link="body"/>
        <child link="body_face_top_3"/>
        <origin xyz="-0.33333333333333337 0.0 0.501"
                rpy="0 0 0"/>
        <axis xyz="0 0 1"/>
        
    </joint>


    <!-- body_face_top_4 -->
    <link name="body_face_top_4">
        <inertial>
            <origin xyz="0 0 0" rpy="0 0 0"/>
            <mass value="0"/>
            <inertia ixx=".1" ixy=".1" ixz=".1" iyy=".1" iyz=".1" izz=".1"/>
        </inertial>
        <visual>
            <origin xyz="0 0 0" rpy="0 0 0"/>
            <geometry>
                <box size="0.1111111111111111 0.1111111111111111 0.002"/>
            </geometry>
        </visual>
        <collision>
            <origin xyz="0 0 0" rpy="0 0 0"/>
            <geometry>
                <box size="0.1111111111111111 0.1111111111111111 0.002"/>
            </geometry>
        </collision>
    </link>
    <!-- Joint: body, body_face_top_4 -->
    <joint name="body_body_face_top_4_joint" type="fixed">
        <parent link="body"/>
        <child link="body_face_top_4"/>
        <origin xyz="-0.2222222222222222 0.0 0.501"
                rpy="0 0 0"/>
        <axis xyz="0 0 1"/>
        
    </joint>


    <!-- body_face_top_5 -->
    <link name="body_face_top_5">
        <inertial>
            <origin xyz="0 0 0" rpy="0 0 0"/>
            <mass value="0"/>
            <inertia ixx=".1" ixy=".1" ixz=".1" iyy=".1" iyz=".1" izz=".1"/>
        </inertial>
        <visual>
            <origin xyz="0 0 0" rpy="0 0 0"/>
            <geometry>
                <box size="0.1111111111111111 0.1111111111111111 0.002"/>
            </geometry>
        </visual>
        <collision>
            <origin xyz="0 0 0" rpy="0 0 0"/>
            <geometry>
                <box size="0.1111111111111111 0.1111111111111111 0.002"/>
            </geometry>
        </collision>
    </link>
    <!-- Joint: body, body_face_top_5 -->
    <joint name="body_body_face_top_5_joint" type="fixed">
        <parent link="body"/>
        <child link="body_face_top_5"/>
        <origin xyz="-0.1111111111111111 0.0 0.501"
                rpy="0 0 0"/>
        <axis xyz="0 0 1"/>
        
    </joint>


    <!-- body_face_top_6 -->
    <link name="body_face_top_6">
        <inertial>
            <origin xyz="0 0 0" rpy="0 0 0"/>
            <mass value="0"/>
            <inertia ixx=".1" ixy=".1" ixz=".1" iyy=".1" iyz=".1" izz=".1"/>
        </inertial>
        <visual>
            <origin xyz="0 0 0" rpy="0 0 0"/>
            <geometry>
                <box size="0.1111111111111111 0.1111111111111111 0.002"/>
            </geometry>
        </visual>
        <collision>
            <origin xyz="0 0 0" rpy="0 0 0"/>
            <geometry>
                <box size="0.1111111111111111 0.1111111111111111 0.002"/>
            </geometry>
        </collision>
    </link>
    <!-- Joint: body, body_face_top_6 -->
    <joint name="body_body_face_top_6_joint" type="fixed">
        <parent link="body"/>
        <child link="body_face_top_6"/>
        <origin xyz="0.0 0.0 0.501"
                rpy="0 0 0"/>
        <axis xyz="0 0 1"/>
        
    </joint>


    <!-- body_face_top_7 -->
    <link name="body_face_top_7">
        <inertial>
            <origin xyz="0 0 0" rpy="0 0 0"/>
            <mass value="0"/>
            <inertia ixx=".1" ixy=".1" ixz=".1" iyy=".1" iyz=".1" izz=".1"/>
        </inertial>
        <visual>
            <origin xyz="0 0 0" rpy="0 0 0"/>
            <geometry>
                <box size="0.1111111111111111 0.1111111111111111 0.002"/>
            </geometry>
        </visual>
        <collision>
            <origin xyz="0 0 0" rpy="0 0 0"/>
            <geometry>
                <box size="0.1111111111111111 0.1111111111111111 0.002"/>
            </geometry>
        </collision>
    </link>
    <!-- Joint: body, body_face_top_7 -->
    <joint name="body_body_face_top_7_joint" type="fixed">
        <parent link="body"/>
        <child link="body_face_top_7"/>
        <origin xyz="0.11111111111111116 0.0 0.501"
                rpy="0 0 0"/>
        <axis xyz="0 0 1"/>
        
    </joint>


    <!-- body_face_top_8 -->
    <link name="body_face_top_8">
        <inertial>
            <origin xyz="0 0 0" rpy="0 0 0"/>
            <mass value="0"/>
            <inertia ixx=".1" ixy=".1" ixz=".1" iyy=".1" iyz=".1" izz=".1"/>
        </inertial>
        <visual>
            <origin xyz="0 0 0" rpy="0 0 0"/>
            <geometry>
                <box size="0.1111111111111111 0.1111111111111111 0.002"/>
            </geometry>
        </visual>
        <collision>
            <origin xyz="0 0 0" rpy="0 0 0"/>
            <geometry>
                <box size="0.1111111111111111 0.1111111111111111 0.002"/>
            </geometry>
        </collision>
    </link>
    <!-- Joint: body, body_face_top_8 -->
    <joint name="body_body_face_top_8_joint" type="fixed">
        <parent link="body"/>
        <child link="body_face_top_8"/>
        <origin xyz="0.2222222222222222 0.0 0.501"
                rpy="0 0 0"/>
        <axis xyz="0 0 1"/>
        
    </joint>


    <!-- body_face_top_9 -->
    <link name="body_face_top_9">
        <inertial>
            <origin xyz="0 0 0" rpy="0 0 0"/>
            <mass value="0"/>
            <inertia ixx=".1" ixy=".1" ixz=".1" iyy=".1" iyz=".1" izz=".1"/>
        </inertial>
        <visual>
            <origin xyz="0 0 0" rpy="0 0 0"/>
            <geometry>
                <box size="0.1111111111111111 0.1111111111111111 0.002"/>
            </geometry>
        </visual>
        <collision>
            <origin xyz="0 0 0" rpy="0 0 0"/>
            <geometry>
                <box size="0.1111111111111111 0.1111111111111111 0.002"/>
            </geometry>
        </collision>
    </link>
    <!-- Joint: body, body_face_top_9 -->
    <joint name="body_body_face_top_9_joint" type="fixed">
        <parent link="body"/>
        <child link="body_face_top_9"/>
        <origin xyz="0.33333333333333337 0.0 0.501"
                rpy="0 0 0"/>
        <axis xyz="0 0 1"/>
        
    </joint>


    <!-- body_face_top_10 -->
    <link name="body_face_top_10">
        <inertial>
            <origin xyz="0 0 0" rpy="0 0 0"/>
            <mass value="0"/>
            <inertia ixx=".1" ixy=".1" ixz=".1" iyy=".1" iyz=".1" izz=".1"/>
        </inertial>
        <visual>
            <origin xyz="0 0 0" rpy="0 0 0"/>
            <geometry>
                <box size="0.1111111111111111 0.1111111111111111 0.002"/>
            </geometry>
        </visual>
        <collision>
            <origin xyz="0 0 0" rpy="0 0 0"/>
            <geometry>
                <box size="0.1111111111111111 0.1111111111111111 0.002"/>
            </geometry>
        </collision>
    </link>
    <!-- Joint: body, body_face_top_10 -->
    <joint name="body_body_face_top_10_joint" type="fixed">
        <parent link="body"/>
        <child link="body_face_top_10"/>
        <origin xyz="0.11111111111111116 0.11111111111111116 0.501"
                rpy="0 0 0"/>
        <axis xyz="0 0 1"/>
        
    </joint>


    <!-- body_face_top_11 -->
    <link name="body_face_top_11">
        <inertial>
            <origin xyz="0 0 0" rpy="0 0 0"/>
            <mass value="0"/>
            <inertia ixx=".1" ixy=".1" ixz=".1" iyy=".1" iyz=".1" izz=".1"/>
        </inertial>
        <visual>
            <origin xyz="0 0 0" rpy="0 0 0"/>
            <geometry>
                <box size="0.1111111111111111 0.1111111111111111 0.002"/>
            </geometry>
        </visual>
        <collision>
            <origin xyz="0 0 0" rpy="0 0 0"/>
            <geometry>
                <box size="0.1111111111111111 0.1111111111111111 0.002"/>
            </geometry>
        </collision>
    </link>
    <!-- Joint: body, body_face_top_11 -->
    <joint name="body_body_face_top_11_joint" type="fixed">
        <parent link="body"/>
        <child link="body_face_top_11"/>
        <origin xyz="0.2222222222222222 0.11111111111111116 0.501"
                rpy="0 0 0"/>
        <axis xyz="0 0 1"/>
        
    </joint>


    <!-- body_face_top_12 -->
    <link name="body_face_top_12">
        <inertial>
            <origin xyz="0 0 0" rpy="0 0 0"/>
            <mass value="0"/>
            <inertia ixx=".1" ixy=".1" ixz=".1" iyy=".1" iyz=".1" izz=".1"/>
        </inertial>
        <visual>
            <origin xyz="0 0 0" rpy="0 0 0"/>
            <geometry>
                <box size="0.1111111111111111 0.1111111111111111 0.002"/>
            </geometry>
        </visual>
        <collision>
            <origin xyz="0 0 0" rpy="0 0 0"/>
            <geometry>
                <box size="0.1111111111111111 0.1111111111111111 0.002"/>
            </geometry>
        </collision>
    </link>
    <!-- Joint: body, body_face_top_12 -->
    <joint name="body_body_face_top_12_joint" type="fixed">
        <parent link="body"/>
        <child link="body_face_top_12"/>
        <origin xyz="0.11111111111111116 0.2222222222222222 0.501"
                rpy="0 0 0"/>
        <axis xyz="0 0 1"/>
        
    </joint>


</robot>
